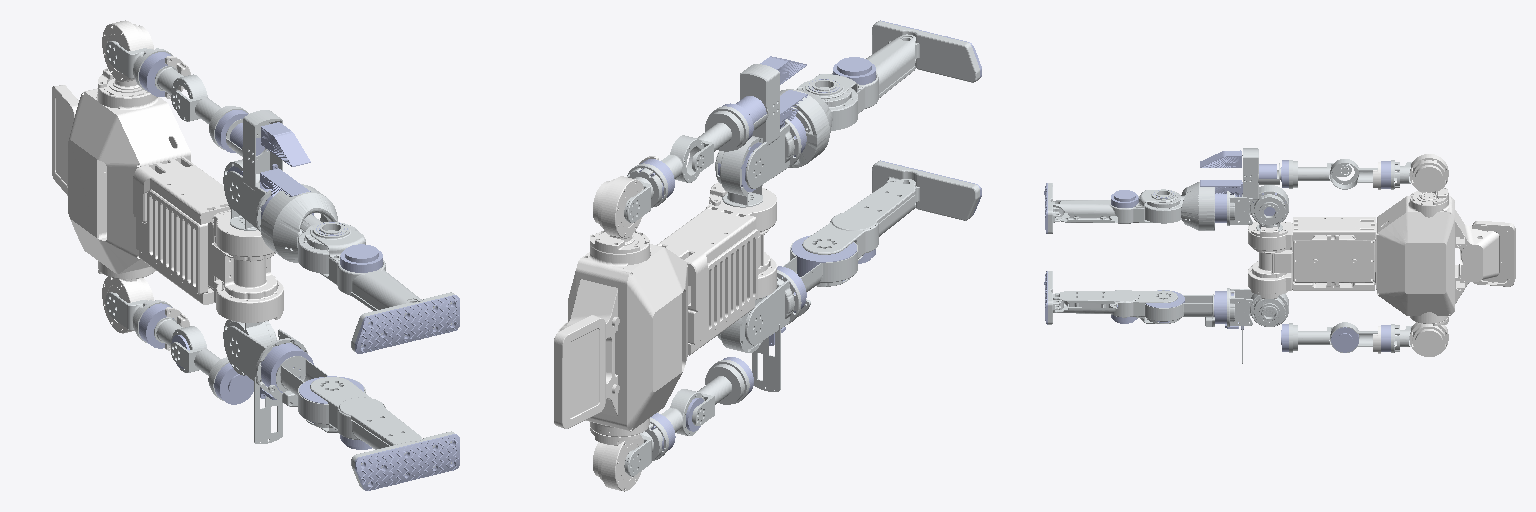
--- What the picture shows (computed from the rendered views, not written in the file) ---
3 views of the same robot in one strip: view 1: azimuth 30°, elevation 25°; view 2: azimuth 150°, elevation 25°; view 3: azimuth 270°, elevation 25° (orthographic).
Robot: gpr-20241204 — 88 links, 87 joints (20 revolute, 67 fixed); root link base; default pose: all joints at 0.
Links seen in each view (by area): view 1: front_shell, body1-part_12, leg2_shell, body1-part_20, body1-part_23, body1-part, foot2, foot4, leg3_shell1, leg3_shell11, hand_shell, leg3_shell33 (+25 smaller); view 2: front_shell, body1-part_20, body1-part_23, foot3, foot1, leg2_shell, body1-part_15, body1-part, body1-part_4, body1-part_10, leg1_shell3, leg3_shell11 (+24 smaller); view 3: back_shell, body1-part_19, leg2_shell, body1-part_12, body1-part_23, leg3_shell11, body1-part_11, body1-part_4, leg3_shell1, leg2_shell_2, body1-part, leg0_shell (+14 smaller).
Boxes of the visible links, bbox=[...] form: front_shell: bbox=[68, 90, 148, 274]; body1-part_12: bbox=[214, 211, 283, 322]; leg2_shell: bbox=[261, 184, 365, 273]; body1-part_20: bbox=[136, 190, 207, 294]; body1-part_23: bbox=[133, 156, 230, 224]; body1-part: bbox=[93, 88, 186, 279]; foot2: bbox=[355, 295, 459, 353]; foot4: bbox=[355, 434, 459, 490]; leg3_shell1: bbox=[320, 257, 421, 309]; leg3_shell11: bbox=[310, 377, 389, 449]; hand_shell: bbox=[226, 110, 282, 190]; leg3_shell33: bbox=[339, 397, 421, 445]; front_shell: bbox=[618, 245, 687, 431]; body1-part_20: bbox=[688, 229, 757, 344]; body1-part_23: bbox=[657, 206, 755, 311]; foot3: bbox=[872, 161, 979, 220]; foot1: bbox=[872, 21, 979, 82]; leg2_shell: bbox=[780, 79, 857, 167]; body1-part_15: bbox=[554, 315, 605, 428]; body1-part: bbox=[580, 231, 654, 436]; body1-part_4: bbox=[565, 279, 617, 416]; body1-part_10: bbox=[569, 329, 598, 418]; leg1_shell3: bbox=[746, 270, 801, 345]; leg3_shell11: bbox=[802, 195, 915, 258]; back_shell: bbox=[1377, 211, 1454, 315]; body1-part_19: bbox=[1293, 235, 1374, 286]; leg2_shell: bbox=[1145, 182, 1214, 230]; body1-part_12: bbox=[1248, 221, 1291, 293]; body1-part_23: bbox=[1293, 217, 1375, 238]; leg3_shell11: bbox=[1053, 290, 1177, 317]; body1-part_11: bbox=[1463, 231, 1498, 281]; body1-part_4: bbox=[1455, 210, 1509, 303]; leg3_shell1: bbox=[1052, 200, 1152, 223]; leg2_shell_2: bbox=[1144, 290, 1213, 323]; body1-part: bbox=[1377, 191, 1454, 323]; leg0_shell: bbox=[1250, 185, 1288, 231].
Size in the robot's own frame: 0.22 by 1.33 by 0.6559 metres.
Meshes: 87 distinct files referenced, 75 mesh visuals loaded (75 binary STL); not drawn: 12 (reference not matched to a file when rendering).

robot.urdf — gpr-20241204:
<?xml version="1.0" ?>
<robot name="gpr-20241204">
  <link name="base">
    <inertial>
      <origin rpy="0 0 0" xyz="0 0 0"/>
      <mass value="0.001"/>
      <inertia ixx="0.000001" ixy="0" ixz="0" iyy="0.000001" iyz="0" izz="0.000001"/>
    </inertial>
  </link>
  <joint name="floating_base" type="fixed">
    <origin rpy="0 0 0" xyz="0 0 0"/>
    <parent link="base"/>
    <child link="body1-part"/>
  </joint>
  <link name="body1-part">
    <visual>
      <origin xyz="0 0 0" rpy="0 0 0"/>
      <geometry>
        <mesh filename="meshes/body1-part.stl"/>
      </geometry>
      <material name="body1-part_material">
        <color rgba="1 1 1 1"/>
      </material>
    </visual>
    <collision>
      <origin xyz="0 0 0" rpy="0 0 0"/>
      <geometry>
        <mesh filename="meshes/body1-part.stl"/>
      </geometry>
    </collision>
    <inertial>
      <mass value="1.2310126"/>
      <inertia ixx="0.027487958" iyy="0.021833906" izz="0.0076034713" ixy="-1.9582105e-05" ixz="0" iyz="0"/>
      <origin xyz="0 0 0" rpy="0 0 0"/>
    </inertial>
  </link>
  <joint name="Fastened_16" type="fixed">
    <origin xyz="-1.0603759e-05 0.018089564 0.14549981" rpy="3.1415927 0 0"/>
    <parent link="body1-part"/>
    <child link="body1-part_2"/>
  </joint>
  <link name="body1-part_2">
    <visual>
      <origin xyz="0 0 0" rpy="0 0 0"/>
      <geometry>
        <mesh filename="meshes/body1-part_2.stl"/>
      </geometry>
      <material name="body1-part_material_2">
        <color rgba="1 1 1 1"/>
      </material>
    </visual>
    <collision>
      <origin xyz="0 0 0" rpy="0 0 0"/>
      <geometry>
        <mesh filename="meshes/body1-part_2.stl"/>
      </geometry>
    </collision>
    <inertial>
      <mass value="0.9"/>
      <inertia ixx="0.00067098171" iyy="0.00067098171" izz="0.00090724844" ixy="0" ixz="0" iyz="0"/>
      <origin xyz="0 0 -0.014732068" rpy="0 0 0"/>
    </inertial>
  </link>
  <joint name="Fastened_17" type="fixed">
    <origin xyz="-1.0603759e-05 0.018089564 -0.14550019" rpy="0 0 0"/>
    <parent link="body1-part"/>
    <child link="body1-part_3"/>
  </joint>
  <link name="body1-part_3">
    <visual>
      <origin xyz="0 0 0" rpy="0 0 0"/>
      <geometry>
        <mesh filename="meshes/body1-part_3.stl"/>
      </geometry>
      <material name="body1-part_material_3">
        <color rgba="1 1 1 1"/>
      </material>
    </visual>
    <collision>
      <origin xyz="0 0 0" rpy="0 0 0"/>
      <geometry>
        <mesh filename="meshes/body1-part_3.stl"/>
      </geometry>
    </collision>
    <inertial>
      <mass value="0.9"/>
      <inertia ixx="0.00067098171" iyy="0.00067098171" izz="0.00090724844" ixy="0" ixz="0" iyz="0"/>
      <origin xyz="0 0 -0.014732068" rpy="0 0 0"/>
    </inertial>
  </link>
  <joint name="Fastened_20" type="fixed">
    <origin xyz="-0.024510604 0.092089564 -0.050000186" rpy="-1.5707963 0 -3.1415927"/>
    <parent link="body1-part"/>
    <child link="body1-part_4"/>
  </joint>
  <link name="body1-part_4">
    <visual>
      <origin xyz="0 0 0" rpy="0 0 0"/>
      <geometry>
        <mesh filename="meshes/body1-part_4.stl"/>
      </geometry>
      <material name="body1-part_material_4">
        <color rgba="1 1 1 1"/>
      </material>
    </visual>
    <collision>
      <origin xyz="0 0 0" rpy="0 0 0"/>
      <geometry>
        <mesh filename="meshes/body1-part_4.stl"/>
      </geometry>
    </collision>
    <inertial>
      <mass value="0.58787898"/>
      <inertia ixx="0.0027603188" iyy="0.00086737302" izz="0.0024433121" ixy="3.4344832e-06" ixz="9.8920117e-05" iyz="4.2665282e-06"/>
      <origin xyz="-0.021019429 -0.048755515 -0.038413655" rpy="0 0 0"/>
    </inertial>
  </link>
  <joint name="Fastened_13" type="fixed">
    <origin xyz="0.039989396 0.07830385 -0.15700019" rpy="-1.5707963 0 1.5707963"/>
    <parent link="body1-part"/>
    <child link="back_shell"/>
  </joint>
  <link name="back_shell">
    <visual>
      <origin xyz="0 0 0" rpy="0 0 0"/>
      <geometry>
        <mesh filename="meshes/back_shell.stl"/>
      </geometry>
      <material name="back_shell_material">
        <color rgba="1 1 1 1"/>
      </material>
    </visual>
    <collision>
      <origin xyz="0 0 0" rpy="0 0 0"/>
      <geometry>
        <mesh filename="meshes/back_shell.stl"/>
      </geometry>
    </collision>
    <inertial>
      <mass value="0.24321991"/>
      <inertia ixx="0.0019310343" iyy="0.0011151632" izz="0.0029796264" ixy="0" ixz="2.6407968e-05" iyz="0"/>
      <origin xyz="-0.087802809 -0.15697885 -0.024458018" rpy="0 0 0"/>
    </inertial>
  </link>
  <joint name="Fastened_15" type="fixed">
    <origin xyz="-0.040010604 0.07830385 -0.15700019" rpy="-1.5707963 0 1.5707963"/>
    <parent link="body1-part"/>
    <child link="front_shell"/>
  </joint>
  <link name="front_shell">
    <visual>
      <origin xyz="0 0 0" rpy="0 0 0"/>
      <geometry>
        <mesh filename="meshes/front_shell.stl"/>
      </geometry>
      <material name="front_shell_material">
        <color rgba="1 1 1 1"/>
      </material>
    </visual>
    <collision>
      <origin xyz="0 0 0" rpy="0 0 0"/>
      <geometry>
        <mesh filename="meshes/front_shell.stl"/>
      </geometry>
    </collision>
    <inertial>
      <mass value="0.44765499"/>
      <inertia ixx="0.0034645893" iyy="0.0019394115" izz="0.0052195962" ixy="3.5715688e-05" ixz="-0.0001249107" iyz="8.2800802e-06"/>
      <origin xyz="-0.12203709 -0.15568345 0.030991974" rpy="0 0 0"/>
    </inertial>
  </link>
  <joint name="Fastened_8" type="fixed">
    <origin xyz="-1.0603691e-05 -0.12991044 0" rpy="1.5707963 0 0"/>
    <parent link="body1-part"/>
    <child link="body1-part_5"/>
  </joint>
  <link name="body1-part_5">
    <visual>
      <origin xyz="0 0 0" rpy="0 0 0"/>
      <geometry>
        <mesh filename="meshes/body1-part_5.stl"/>
      </geometry>
      <material name="body1-part_material_5">
        <color rgba="1 1 1 1"/>
      </material>
    </visual>
    <collision>
      <origin xyz="0 0 0" rpy="0 0 0"/>
      <geometry>
        <mesh filename="meshes/body1-part_5.stl"/>
      </geometry>
    </collision>
    <inertial>
      <mass value="0.68030096"/>
      <inertia ixx="0.0086891579" iyy="0.006933761" izz="0.002608882" ixy="8.7755602e-06" ixz="-0.00015085389" iyz="3.1228871e-05"/>
      <origin xyz="-0.0071262559 0.00039370917 0.13888879" rpy="0 0 0"/>
    </inertial>
  </link>
  <joint name="L_shoulder_y" type="revolute">
    <origin xyz="0 0 -0.042" rpy="0 0 3.1415927"/>
    <parent link="body1-part_2"/>
    <child link="shoulder"/>
    <limit effort="80" velocity="5" lower="0" upper="3.1415927"/>
    <axis xyz="0 0 1"/>
  </joint>
  <link name="shoulder">
    <visual>
      <origin xyz="0 0 0" rpy="0 0 0"/>
      <geometry>
        <mesh filename="meshes/shoulder.stl"/>
      </geometry>
      <material name="shoulder_material">
        <color rgba="1 1 1 1"/>
      </material>
    </visual>
    <collision>
      <origin xyz="0 0 0" rpy="0 0 0"/>
      <geometry>
        <mesh filename="meshes/shoulder.stl"/>
      </geometry>
    </collision>
    <inertial>
      <mass value="0.20769407"/>
      <inertia ixx="0.00056970417" iyy="0.00033193722" izz="0.0002822625" ixy="0" ixz="9.8838615e-06" iyz="0"/>
      <origin xyz="0.0091782099 4.9366749e-05 -0.061966361" rpy="0 0 0"/>
    </inertial>
  </link>
  <joint name="Fastened_19" type="fixed">
    <origin xyz="0 0 -0.0395" rpy="0 0 0"/>
    <parent link="body1-part_2"/>
    <child link="body1-part_6"/>
  </joint>
  <link name="body1-part_6">
    <visual>
      <origin xyz="0 0 0" rpy="0 0 0"/>
      <geometry>
        <mesh filename="meshes/body1-part_6.stl"/>
      </geometry>
      <material name="body1-part_material_6">
        <color rgba="1 1 1 1"/>
      </material>
    </visual>
    <collision>
      <origin xyz="0 0 0" rpy="0 0 0"/>
      <geometry>
        <mesh filename="meshes/body1-part_6.stl"/>
      </geometry>
    </collision>
    <inertial>
      <mass value="0.075924533"/>
      <inertia ixx="9.3806565e-06" iyy="4.1635546e-05" izz="4.730836e-05" ixy="0" ixz="0" iyz="0"/>
      <origin xyz="0 -0.03633484 -0.007761698" rpy="0 0 0"/>
    </inertial>
  </link>
  <joint name="R_shoulder_y" type="revolute">
    <origin xyz="0 0 -0.042" rpy="0 0 3.1415927"/>
    <parent link="body1-part_3"/>
    <child link="shoulder_2"/>
    <limit effort="80" velocity="5" lower="-3.1415927" upper="0"/>
    <axis xyz="0 0 1"/>
  </joint>
  <link name="shoulder_2">
    <visual>
      <origin xyz="0 0 0" rpy="0 0 0"/>
      <geometry>
        <mesh filename="meshes/shoulder_2.stl"/>
      </geometry>
      <material name="shoulder_material_2">
        <color rgba="1 1 1 1"/>
      </material>
    </visual>
    <collision>
      <origin xyz="0 0 0" rpy="0 0 0"/>
      <geometry>
        <mesh filename="meshes/shoulder_2.stl"/>
      </geometry>
    </collision>
    <inertial>
      <mass value="0.20769287"/>
      <inertia ixx="0.00056970219" iyy="0.00033193616" izz="0.0002822618" ixy="0" ixz="9.8835172e-06" iyz="0"/>
      <origin xyz="0.0091782992 -4.9389878e-05 -0.061966523" rpy="0 0 0"/>
    </inertial>
  </link>
  <joint name="Fastened_18" type="fixed">
    <origin xyz="0 0 -0.0395" rpy="0 0 0"/>
    <parent link="body1-part_3"/>
    <child link="body1-part_7"/>
  </joint>
  <link name="body1-part_7">
    <visual>
      <origin xyz="0 0 0" rpy="0 0 0"/>
      <geometry>
        <mesh filename="meshes/body1-part_7.stl"/>
      </geometry>
      <material name="body1-part_material_7">
        <color rgba="1 1 1 1"/>
      </material>
    </visual>
    <collision>
      <origin xyz="0 0 0" rpy="0 0 0"/>
      <geometry>
        <mesh filename="meshes/body1-part_7.stl"/>
      </geometry>
    </collision>
    <inertial>
      <mass value="0.075924533"/>
      <inertia ixx="9.3806565e-06" iyy="4.1635546e-05" izz="4.730836e-05" ixy="0" ixz="0" iyz="0"/>
      <origin xyz="0 0.03633484 -0.007761698" rpy="0 0 0"/>
    </inertial>
  </link>
  <joint name="Fastened_21" type="fixed">
    <origin xyz="0.0067 -0.118 -0.0145" rpy="0 1.5707963 0"/>
    <parent link="body1-part_4"/>
    <child link="body1-part_8"/>
  </joint>
  <link name="body1-part_8">
    <visual>
      <origin xyz="0 0 0" rpy="0 0 0"/>
      <geometry>
        <mesh filename="meshes/body1-part_8.stl"/>
      </geometry>
      <material name="body1-part_material_8">
        <color rgba="1 1 1 1"/>
      </material>
    </visual>
    <collision>
      <origin xyz="0 0 0" rpy="0 0 0"/>
      <geometry>
        <mesh filename="meshes/body1-part_8.stl"/>
      </geometry>
    </collision>
    <inertial>
      <mass value="0.021354804"/>
      <inertia ixx="5.3828011e-06" iyy="5.5225944e-06" izz="1.7291974e-06" ixy="0" ixz="0" iyz="0"/>
      <origin xyz="0.0011613298 0 -0.010996315" rpy="0 0 0"/>
    </inertial>
  </link>
  <joint name="Fastened_22" type="fixed">
    <origin xyz="0.0067 0.018 -0.0145" rpy="0 1.5707963 0"/>
    <parent link="body1-part_4"/>
    <child link="body1-part_9"/>
  </joint>
  <link name="body1-part_9">
    <visual>
      <origin xyz="0 0 0" rpy="0 0 0"/>
      <geometry>
        <mesh filename="meshes/body1-part_9.stl"/>
      </geometry>
      <material name="body1-part_material_9">
        <color rgba="1 1 1 1"/>
      </material>
    </visual>
    <collision>
      <origin xyz="0 0 0" rpy="0 0 0"/>
      <geometry>
        <mesh filename="meshes/body1-part_9.stl"/>
      </geometry>
    </collision>
    <inertial>
      <mass value="0.021354804"/>
      <inertia ixx="5.3828011e-06" iyy="5.5225944e-06" izz="1.7291974e-06" ixy="0" ixz="0" iyz="0"/>
      <origin xyz="0.0011613298 0 -0.010996315" rpy="0 0 0"/>
    </inertial>
  </link>
  <joint name="Fastened_23" type="fixed">
    <origin xyz="-0.011681946 -0.05 -0.15525297" rpy="-1.5707963 0 0"/>
    <parent link="body1-part_4"/>
    <child link="body1-part_10"/>
  </joint>
  <link name="body1-part_10">
    <visual>
      <origin xyz="0 0 0" rpy="0 0 0"/>
      <geometry>
        <mesh filename="meshes/body1-part_10.stl"/>
      </geometry>
      <material name="body1-part_material_10">
        <color rgba="1 1 1 1"/>
      </material>
    </visual>
    <collision>
      <origin xyz="0 0 0" rpy="0 0 0"/>
      <geometry>
        <mesh filename="meshes/body1-part_10.stl"/>
      </geometry>
    </collision>
    <inertial>
      <mass value="0.5"/>
      <inertia ixx="0.0017089304" iyy="0.0013256893" izz="0.00042272078" ixy="7.0946166e-05" ixz="0" iyz="0"/>
      <origin xyz="0.011773072 -0.047884504 -2.5681477e-05" rpy="0 0 0"/>
    </inertial>
  </link>
  <joint name="Fastened_25" type="fixed">
    <origin xyz="-0.0096448259 -0.049375 -0.12181656" rpy="-1.5707963 0 0"/>
    <parent link="body1-part_4"/>
    <child link="body1-part_11"/>
  </joint>
  <link name="body1-part_11">
    <visual>
      <origin xyz="0 0 0" rpy="0 0 0"/>
      <geometry>
        <mesh filename="meshes/body1-part_11.stl"/>
      </geometry>
      <material name="body1-part_material_11">
        <color rgba="1 1 1 1"/>
      </material>
    </visual>
    <collision>
      <origin xyz="0 0 0" rpy="0 0 0"/>
      <geometry>
        <mesh filename="meshes/body1-part_11.stl"/>
      </geometry>
    </collision>
    <inertial>
      <mass value="0.046132725"/>
      <inertia ixx="9.9743643e-05" iyy="8.7192252e-05" izz="4.7406393e-05" ixy="-2.0406618e-05" ixz="0" iyz="0"/>
      <origin xyz="-0.03599809 -0.036437089 -1.3840725e-06" rpy="0 0 0"/>
    </inertial>
  </link>
  <joint name="Fastened_1" type="fixed">
    <origin xyz="0.0375 -0.016 0.2911" rpy="3.1415927 0 3.1415927"/>
    <parent link="body1-part_5"/>
    <child link="body1-part_12"/>
  </joint>
  <link name="body1-part_12">
    <visual>
      <origin xyz="0 0 0" rpy="0 0 0"/>
      <geometry>
        <mesh filename="meshes/body1-part_12.stl"/>
      </geometry>
      <material name="body1-part_material_12">
        <color rgba="1 1 1 1"/>
      </material>
    </visual>
    <collision>
      <origin xyz="0 0 0" rpy="0 0 0"/>
      <geometry>
        <mesh filename="meshes/body1-part_12.stl"/>
      </geometry>
    </collision>
    <inertial>
      <mass value="0.55223125"/>
      <inertia ixx="0.0024507681" iyy="0.0015647521" izz="0.0023032522" ixy="0" ixz="0" iyz="0"/>
      <origin xyz="0.037500005 0.01601865 -0.0017942193" rpy="0 0 0"/>
    </inertial>
  </link>
  <joint name="Fastened_9" type="fixed">
    <origin xyz="-0.035 0 0.23695" rpy="1.5707963 0 3.1415927"/>
    <parent link="body1-part_5"/>
    <child link="body1-part_13"/>
  </joint>
  <link name="body1-part_13">
    <visual>
      <origin xyz="0 0 0" rpy="0 0 0"/>
      <geometry>
        <mesh filename="meshes/body1-part_13.stl"/>
      </geometry>
      <material name="body1-part_material_13">
        <color rgba="1 1 1 1"/>
      </material>
    </visual>
    <collision>
      <origin xyz="0 0 0" rpy="0 0 0"/>
      <geometry>
        <mesh filename="meshes/body1-part_13.stl"/>
      </geometry>
    </collision>
    <inertial>
      <mass value="0.2184791"/>
      <inertia ixx="0.0018812453" iyy="0.00053438067" izz="0.0014172355" ixy="-1.3418689e-05" ixz="3.9835645e-06" iyz="2.5774755e-05"/>
      <origin xyz="-0.0088675135 -0.11940575 0.0012061451" rpy="0 0 0"/>
    </inertial>
  </link>
  <joint name="Fastened_10" type="fixed">
    <origin xyz="0.037 -0.0818 0.072175" rpy="0 0 3.1415927"/>
    <parent link="body1-part_5"/>
    <child link="body1-part_14"/>
  </joint>
  <link name="body1-part_14">
    <visual>
      <origin xyz="0 0 0" rpy="0 0 0"/>
      <geometry>
        <mesh filename="meshes/body1-part_14.stl"/>
      </geometry>
      <material name="body1-part_material_14">
        <color rgba="1 1 1 1"/>
      </material>
    </visual>
    <collision>
      <origin xyz="0 0 0" rpy="0 0 0"/>
      <geometry>
        <mesh filename="meshes/body1-part_14.stl"/>
      </geometry>
    </collision>
    <inertial>
      <mass value="0.15852082"/>
      <inertia ixx="0.0010823348" iyy="0.0012376681" izz="0.00017205715" ixy="1.6832432e-06" ixz="-1.9787509e-05" iyz="-7.1180342e-06"/>
      <origin xyz="0.051773802 0.0021228967 0.041474154" rpy="0 0 0"/>
    </inertial>
  </link>
  <joint name="Fastened_2" type="fixed">
    <origin xyz="0.020011964 5.6278452e-05 -0.0675" rpy="1.5707963 0 1.5707963"/>
    <parent link="shoulder"/>
    <child link="shoulder_3"/>
  </joint>
  <link name="shoulder_3">
    <visual>
      <origin xyz="0 0 0" rpy="0 0 0"/>
      <geometry>
        <mesh filename="meshes/shoulder_3.stl"/>
      </geometry>
      <material name="shoulder_material_3">
        <color rgba="1 1 1 1"/>
      </material>
    </visual>
    <collision>
      <origin xyz="0 0 0" rpy="0 0 0"/>
      <geometry>
        <mesh filename="meshes/shoulder_3.stl"/>
      </geometry>
    </collision>
    <inertial>
      <mass value="0.9"/>
      <inertia ixx="0.00067098171" iyy="0.00067098171" izz="0.00090724844" ixy="0" ixz="0" iyz="0"/>
      <origin xyz="0 0 -0.024767932" rpy="0 0 0"/>
    </inertial>
  </link>
  <joint name="Fastened_1_2" type="fixed">
    <origin xyz="0.020011964 -5.6278452e-05 -0.0675" rpy="-1.5707963 0 -1.5707963"/>
    <parent link="shoulder_2"/>
    <child link="shoulder_4"/>
  </joint>
  <link name="shoulder_4">
    <visual>
      <origin xyz="0 0 0" rpy="0 0 0"/>
      <geometry>
        <mesh filename="meshes/shoulder_4.stl"/>
      </geometry>
      <material name="shoulder_material_4">
        <color rgba="1 1 1 1"/>
      </material>
    </visual>
    <collision>
      <origin xyz="0 0 0" rpy="0 0 0"/>
      <geometry>
        <mesh filename="meshes/shoulder_4.stl"/>
      </geometry>
    </collision>
    <inertial>
      <mass value="0.6"/>
      <inertia ixx="0.00044732114" iyy="0.00044732114" izz="0.00060483229" ixy="0" ixz="0" iyz="0"/>
      <origin xyz="0 0 -0.024767932" rpy="0 0 0"/>
    </inertial>
  </link>
  <joint name="Fastened_24" type="fixed">
    <origin xyz="0.026228088 -0.096917942 0" rpy="0 0 0"/>
    <parent link="body1-part_10"/>
    <child link="body1-part_15"/>
  </joint>
  <link name="body1-part_15">
    <visual>
      <origin xyz="0 0 0" rpy="0 0 0"/>
      <geometry>
        <mesh filename="meshes/body1-part_15.stl"/>
      </geometry>
      <material name="body1-part_material_15">
        <color rgba="1 1 1 1"/>
      </material>
    </visual>
    <collision>
      <origin xyz="0 0 0" rpy="0 0 0"/>
      <geometry>
        <mesh filename="meshes/body1-part_15.stl"/>
      </geometry>
    </collision>
    <inertial>
      <mass value="0.13419396"/>
      <inertia ixx="0.00087709138" iyy="0.00060457618" izz="0.00030456603" ixy="5.4188371e-05" ixz="0" iyz="-1.1920801e-05"/>
      <origin xyz="-0.018934315 0.058616542 -0.0057840589" rpy="0 0 0"/>
    </inertial>
  </link>
  <joint name="Fastened_2_2" type="fixed">
    <origin xyz="0.0375 0.0647 -0.011" rpy="-1.5707963 0 0"/>
    <parent link="body1-part_12"/>
    <child link="body1-part_16"/>
  </joint>
  <link name="body1-part_16">
    <visual>
      <origin xyz="0 0 0" rpy="0 0 0"/>
      <geometry>
        <mesh filename="meshes/body1-part_16.stl"/>
      </geometry>
      <material name="body1-part_material_16">
        <color rgba="1 1 1 1"/>
      </material>
    </visual>
    <collision>
      <origin xyz="0 0 0" rpy="0 0 0"/>
      <geometry>
        <mesh filename="meshes/body1-part_16.stl"/>
      </geometry>
    </collision>
    <inertial>
      <mass value="0.9"/>
      <inertia ixx="0.00092667619" iyy="0.00094476194" izz="0.0015093945" ixy="0" ixz="0" iyz="0"/>
      <origin xyz="0 0 0.015265182" rpy="0 0 0"/>
    </inertial>
  </link>
  <joint name="Fastened_3" type="fixed">
    <origin xyz="0.0375 -0.0332 -0.011" rpy="-1.5707963 0 0"/>
    <parent link="body1-part_12"/>
    <child link="body1-part_17"/>
  </joint>
  <link name="body1-part_17">
    <visual>
      <origin xyz="0 0 0" rpy="0 0 0"/>
      <geometry>
        <mesh filename="meshes/body1-part_17.stl"/>
      </geometry>
      <material name="body1-part_material_17">
        <color rgba="1 1 1 1"/>
      </material>
    </visual>
    <collision>
      <origin xyz="0 0 0" rpy="0 0 0"/>
      <geometry>
        <mesh filename="meshes/body1-part_17.stl"/>
      </geometry>
    </collision>
    <inertial>
      <mass value="0.9"/>
      <inertia ixx="0.00092667619" iyy="0.00094476194" izz="0.0015093945" ixy="0" ixz="0" iyz="0"/>
      <origin xyz="0 0 -0.015265182" rpy="0 0 0"/>
    </inertial>
  </link>
  <joint name="Fastened_6" type="fixed">
    <origin xyz="0.001 -0.10185 0" rpy="-1.5707963 0 -1.5707963"/>
    <parent link="body1-part_13"/>
    <child link="body1-part_18"/>
  </joint>
  <link name="body1-part_18">
    <visual>
      <origin xyz="0 0 0" rpy="0 0 0"/>
      <geometry>
        <mesh filename="meshes/body1-part_18.stl"/>
      </geometry>
      <material name="body1-part_material_18">
        <color rgba="1 1 1 1"/>
      </material>
    </visual>
    <collision>
      <origin xyz="0 0 0" rpy="0 0 0"/>
      <geometry>
        <mesh filename="meshes/body1-part_18.stl"/>
      </geometry>
    </collision>
    <inertial>
      <mass value="2.65"/>
      <inertia ixx="0.0045809667" iyy="0.0076119042" izz="0.010495104" ixy="0" ixz="0" iyz="0"/>
      <origin xyz="0 0 -0.031" rpy="0 0 0"/>
    </inertial>
  </link>
  <joint name="Fastened_7" type="fixed">
    <origin xyz="-0.036 -0.165 -0.0725" rpy="-1.5707963 0 -1.5707963"/>
    <parent link="body1-part_13"/>
    <child link="body1-part_19"/>
  </joint>
  <link name="body1-part_19">
    <visual>
      <origin xyz="0 0 0" rpy="0 0 0"/>
      <geometry>
        <mesh filename="meshes/body1-part_19.stl"/>
      </geometry>
      <material name="body1-part_material_19">
        <color rgba="1 1 1 1"/>
      </material>
    </visual>
    <collision>
      <origin xyz="0 0 0" rpy="0 0 0"/>
      <geometry>
        <mesh filename="meshes/body1-part_19.stl"/>
      </geometry>
    </collision>
    <inertial>
      <mass value="0.19664803"/>
      <inertia ixx="0.00048017886" iyy="0.0011617696" izz="0.0016065057" ixy="-2.1892502e-06" ixz="1.2826178e-06" iyz="0"/>
      <origin xyz="-0.049405081 -0.07235961 -0.021136733" rpy="0 0 0"/>
    </inertial>
  </link>
  <joint name="Fastened_12" type="fixed">
    <origin xyz="0.097 -0.0116 0.048" rpy="-1.5707963 0 0"/>
    <parent link="body1-part_14"/>
    <child link="body1-part_20"/>
  </joint>
  <link name="body1-part_20">
    <visual>
      <origin xyz="0 0 0" rpy="0 0 0"/>
      <geometry>
        <mesh filename="meshes/body1-part_20.stl"/>
      </geometry>
      <material name="body1-part_material_20">
        <color rgba="1 1 1 1"/>
      </material>
    </visual>
    <collision>
      <origin xyz="0 0 0" rpy="0 0 0"/>
      <geometry>
        <mesh filename="meshes/body1-part_20.stl"/>
      </geometry>
    </collision>
    <inertial>
      <mass value="0.17091898"/>
      <inertia ixx="0.00094438358" iyy="0.00032664113" izz="0.00063068543" ixy="-3.8619295e-06" ixz="-1.2972089e-06" iyz="-4.0416185e-05"/>
      <origin xyz="0.0023575598 -0.014181111 -0.068512803" rpy="0 0 0"/>
    </inertial>
  </link>
  <joint name="L_shoulder_x" type="revolute">
    <origin xyz="0 0 0.0025" rpy="0 0 0"/>
    <parent link="shoulder_3"/>
    <child link="arm1_top"/>
    <limit effort="80" velocity="5" lower="-0.47996554" upper="3.6302848"/>
    <axis xyz="0 0 -1"/>
  </joint>
  <link name="arm1_top">
    <visual>
      <origin xyz="0 0 0" rpy="0 0 0"/>
      <geometry>
        <mesh filename="meshes/arm1_top.stl"/>
      </geometry>
      <material name="arm1_top_material">
        <color rgba="0.89803922 0.91764706 0.92941176 1"/>
      </material>
    </visual>
    <collision>
      <origin xyz="0 0 0" rpy="0 0 0"/>
      <geometry>
        <mesh filename="meshes/arm1_top.stl"/>
      </geometry>
    </collision>
    <inertial>
      <mass value="0.17273239"/>
      <inertia ixx="0.00014277081" iyy="0.00032836929" izz="0.00031367502" ixy="0" ixz="-7.7657011e-05" iyz="0"/>
      <origin xyz="-0.052942145 -3.8550161e-06 -0.0088528025" rpy="0 0 0"/>
    </inertial>
  </link>
  <joint name="R_shoulder_x" type="revolute">
    <origin xyz="0 0 0.0025" rpy="3.1415927 0 0"/>
    <parent link="shoulder_4"/>
    <child link="arm1_top_2"/>
    <limit effort="80" velocity="5" lower="-0.47996554" upper="3.6302848"/>
    <axis xyz="0 0 1"/>
  </joint>
  <link name="arm1_top_2">
    <visual>
      <origin xyz="0 0 0" rpy="0 0 0"/>
      <geometry>
        <mesh filename="meshes/arm1_top_2.stl"/>
      </geometry>
      <material name="arm1_top_2_material">
        <color rgba="0.89803922 0.91764706 0.92941176 1"/>
      </material>
    </visual>
    <collision>
      <origin xyz="0 0 0" rpy="0 0 0"/>
      <geometry>
        <mesh filename="meshes/arm1_top_2.stl"/>
      </geometry>
    </collision>
    <inertial>
      <mass value="0.17273186"/>
      <inertia ixx="0.00014276994" iyy="0.00032836833" izz="0.00031367483" ixy="0" ixz="7.7656754e-05" iyz="0"/>
      <origin xyz="-0.052942107 -3.5991896e-06 0.0078526534" rpy="0 0 0"/>
    </inertial>
  </link>
  <joint name="L_hip_y" type="revolute">
    <origin xyz="0 0 0.039" rpy="3.1415927 0 0"/>
    <parent link="body1-part_16"/>
    <child link="leg0_shell"/>
    <limit effort="80" velocity="5" lower="-1.5707963" upper="1.5707963"/>
    <axis xyz="0 0 1"/>
  </joint>
  <link name="leg0_shell">
    <visual>
      <origin xyz="0 0 0" rpy="0 0 0"/>
      <geometry>
        <mesh filename="meshes/leg0_shell.stl"/>
      </geometry>
      <material name="leg0_shell_material">
        <color rgba="0.89803922 0.91764706 0.92941176 1"/>
      </material>
    </visual>
    <collision>
      <origin xyz="0 0 0" rpy="0 0 0"/>
      <geometry>
        <mesh filename="meshes/leg0_shell.stl"/>
      </geometry>
    </collision>
    <inertial>
      <mass value="0.37018127"/>
      <inertia ixx="0.00093621354" iyy="0.00065646916" izz="0.00053778412" ixy="0" ixz="2.8249641e-06" iyz="0"/>
      <origin xyz="-0.0060442347 0 -0.064584622" rpy="0 0 0"/>
    </inertial>
  </link>
  <joint name="Fastened_4" type="fixed">
    <origin xyz="0 0 0.039" rpy="3.1415927 0 0"/>
    <parent link="body1-part_16"/>
    <child link="body1-part_21"/>
  </joint>
  <link name="body1-part_21">
    <visual>
      <origin xyz="0 0 0" rpy="0 0 0"/>
      <geometry>
        <mesh filename="meshes/body1-part_21.stl"/>
      </geometry>
      <material name="body1-part_material_21">
        <color rgba="1 1 1 1"/>
      </material>
    </visual>
    <collision>
      <origin xyz="0 0 0" rpy="0 0 0"/>
      <geometry>
        <mesh filename="meshes/body1-part_21.stl"/>
      </geometry>
    </collision>
    <inertial>
      <mass value="0.067658274"/>
      <inertia ixx="3.3775869e-05" iyy="6.8844667e-06" izz="3.7372327e-05" ixy="0" ixz="0" iyz="0"/>
      <origin xyz="-0.043191859 0 -0.0082396077" rpy="0 0 0"/>
    </inertial>
  </link>
  <joint name="R_hip_y" type="revolute">
    <origin xyz="0 0 -0.039" rpy="0 0 0"/>
    <parent link="body1-part_17"/>
    <child link="leg0_shell_2"/>
    <limit effort="80" velocity="5" lower="-1.5707963" upper="1.5707963"/>
    <axis xyz="0 0 1"/>
  </joint>
  <link name="leg0_shell_2">
    <visual>
      <origin xyz="0 0 0" rpy="0 0 0"/>
      <geometry>
        <mesh filename="meshes/leg0_shell_2.stl"/>
      </geometry>
      <material name="leg0_shell_material_2">
        <color rgba="0.89803922 0.91764706 0.92941176 1"/>
      </material>
    </visual>
    <collision>
      <origin xyz="0 0 0" rpy="0 0 0"/>
      <geometry>
        <mesh filename="meshes/leg0_shell_2.stl"/>
      </geometry>
    </collision>
    <inertial>
      <mass value="0.37018127"/>
      <inertia ixx="0.00093621354" iyy="0.00065646916" izz="0.00053778412" ixy="0" ixz="2.8249641e-06" iyz="0"/>
      <origin xyz="-0.0060442347 0 -0.064584622" rpy="0 0 0"/>
    </inertial>
  </link>
  <joint name="Fastened_5" type="fixed">
    <origin xyz="0 0 -0.039" rpy="0 0 0"/>
    <parent link="body1-part_17"/>
    <child link="body1-part_22"/>
  </joint>
  <link name="body1-part_22">
    <visual>
      <origin xyz="0 0 0" rpy="0 0 0"/>
      <geometry>
        <mesh filename="meshes/body1-part_22.stl"/>
      </geometry>
      <material name="body1-part_material_22">
        <color rgba="1 1 1 1"/>
      </material>
    </visual>
    <collision>
      <origin xyz="0 0 0" rpy="0 0 0"/>
      <geometry>
        <mesh filename="meshes/body1-part_22.stl"/>
      </geometry>
    </collision>
    <inertial>
      <mass value="0.067658274"/>
      <inertia ixx="3.3775869e-05" iyy="6.8844667e-06" izz="3.7372327e-05" ixy="0" ixz="0" iyz="0"/>
      <origin xyz="-0.043191859 0 -0.0082396077" rpy="0 0 0"/>
    </inertial>
  </link>
  <joint name="Fastened_11" type="fixed">
    <origin xyz="-1.307028e-05 0.098256596 -0.06658996" rpy="0 0 0"/>
    <parent link="body1-part_20"/>
    <child link="body1-part_23"/>
  </joint>
  <link name="body1-part_23">
    <visual>
      <origin xyz="0 0 0" rpy="0 0 0"/>
      <geometry>
        <mesh filename="meshes/body1-part_23.stl"/>
      </geometry>
      <material name="body1-part_material_23">
        <color rgba="1 1 1 1"/>
      </material>
    </visual>
    <collision>
      <origin xyz="0 0 0" rpy="0 0 0"/>
      <geometry>
        <mesh filename="meshes/body1-part_23.stl"/>
      </geometry>
    </collision>
    <inertial>
      <mass value="0.17646959"/>
      <inertia ixx="0.0012593369" iyy="0.00026382552" izz="0.0014086182" ixy="-5.5379892e-05" ixz="-3.7301337e-05" iyz="-7.234386e-05"/>
      <origin xyz="-0.036013026 -0.081120728 -0.084248178" rpy="0 0 0"/>
    </inertial>
  </link>
  <joint name="Fastened_2_3" type="fixed">
    <origin xyz="-0.108 0 -0.0235" rpy="3.1415927 -1.5707963 0"/>
    <parent link="arm1_top"/>
    <child link="arm-actuator"/>
  </joint>
  <link name="arm-actuator">
    <visual>
      <origin xyz="0 0 0" rpy="0 0 0"/>
      <geometry>
        <mesh filename="meshes/arm-actuator.stl"/>
      </geometry>
      <material name="arm-actuator_material">
        <color rgba="0.79215686 0.81960784 0.93333333 1"/>
      </material>
    </visual>
    <collision>
      <origin xyz="0 0 0" rpy="0 0 0"/>
      <geometry>
        <mesh filename="meshes/arm-actuator.stl"/>
      </geometry>
    </collision>
    <inertial>
      <mass value="0.4"/>
      <inertia ixx="0.00018548163" iyy="0.00018548163" izz="0.00028416296" ixy="0" ixz="0" iyz="0"/>
      <origin xyz="0 0 -0.011585135" rpy="0 0 0"/>
    </inertial>
  </link>
  <joint name="Fastened_1_3" type="fixed">
    <origin xyz="-0.108 0 0.0225" rpy="0 1.5707963 0"/>
    <parent link="arm1_top_2"/>
    <child link="arm-actuator_2"/>
  </joint>
  <link name="arm-actuator_2">
    <visual>
      <origin xyz="0 0 0" rpy="0 0 0"/>
      <geometry>
        <mesh filename="meshes/arm-actuator_2.stl"/>
      </geometry>
      <material name="arm-actuator_material_2">
        <color rgba="0.79215686 0.81960784 0.93333333 1"/>
      </material>
    </visual>
    <collision>
      <origin xyz="0 0 0" rpy="0 0 0"/>
      <geometry>
        <mesh filename="meshes/arm-actuator_2.stl"/>
      </geometry>
    </collision>
    <inertial>
      <mass value="0.4"/>
      <inertia ixx="0.00018548163" iyy="0.00018548163" izz="0.00028416296" ixy="0" ixz="0" iyz="0"/>
      <origin xyz="0 0 -0.011585135" rpy="0 0 0"/>
    </inertial>
  </link>
  <joint name="Fastened_1_4" type="fixed">
    <origin xyz="-0.0301 0 -0.0695" rpy="-1.5707963 0 1.5707963"/>
    <parent link="leg0_shell"/>
    <child link="leg0_actuator"/>
  </joint>
  <link name="leg0_actuator">
    <visual>
      <origin xyz="0 0 0" rpy="0 0 0"/>
      <geometry>
        <mesh filename="meshes/leg0_actuator.stl"/>
      </geometry>
      <material name="leg0_actuator_material">
        <color rgba="0.79215686 0.81960784 0.93333333 1"/>
      </material>
    </visual>
    <collision>
      <origin xyz="0 0 0" rpy="0 0 0"/>
      <geometry>
        <mesh filename="meshes/leg0_actuator.stl"/>
      </geometry>
    </collision>
    <inertial>
      <mass value="0.9"/>
      <inertia ixx="0.00067098171" iyy="0.00067098171" izz="0.00090724844" ixy="0" ixz="0" iyz="0"/>
      <origin xyz="0 0 -0.029332068" rpy="0 0 0"/>
    </inertial>
  </link>
  <joint name="Fastened_2_4" type="fixed">
    <origin xyz="-0.0346 0 -0.0695" rpy="1.5707963 0 1.5707963"/>
    <parent link="leg0_shell"/>
    <child link="leg0_bearing"/>
  </joint>
  <link name="leg0_bearing">
    <visual>
      <origin xyz="0 0 0" rpy="0 0 0"/>
      <geometry>
        <mesh filename="meshes/leg0_bearing.stl"/>
      </geometry>
      <material name="leg0_bearing_material">
        <color rgba="0.89803922 0.91764706 0.92941176 1"/>
      </material>
    </visual>
    <collision>
      <origin xyz="0 0 0" rpy="0 0 0"/>
      <geometry>
        <mesh filename="meshes/leg0_bearing.stl"/>
      </geometry>
    </collision>
    <inertial>
      <mass value="0.053266787"/>
      <inertia ixx="1.8136502e-05" iyy="1.8136502e-05" izz="3.5913995e-05" ixy="0" ixz="0" iyz="0"/>
      <origin xyz="0 0 -0.0035" rpy="0 0 0"/>
    </inertial>
  </link>
  <joint name="Fastened_1_5" type="fixed">
    <origin xyz="-0.0301 0 -0.0695" rpy="-1.5707963 0 1.5707963"/>
    <parent link="leg0_shell_2"/>
    <child link="leg0_actuator_2"/>
  </joint>
  <link name="leg0_actuator_2">
    <visual>
      <origin xyz="0 0 0" rpy="0 0 0"/>
      <geometry>
        <mesh filename="meshes/leg0_actuator_2.stl"/>
      </geometry>
      <material name="leg0_actuator_material_2">
        <color rgba="0.79215686 0.81960784 0.93333333 1"/>
      </material>
    </visual>
    <collision>
      <origin xyz="0 0 0" rpy="0 0 0"/>
      <geometry>
        <mesh filename="meshes/leg0_actuator_2.stl"/>
      </geometry>
    </collision>
    <inertial>
      <mass value="0.9"/>
      <inertia ixx="0.00067098171" iyy="0.00067098171" izz="0.00090724844" ixy="0" ixz="0" iyz="0"/>
      <origin xyz="0 0 -0.029332068" rpy="0 0 0"/>
    </inertial>
  </link>
  <joint name="Fastened_2_5" type="fixed">
    <origin xyz="-0.0346 0 -0.0695" rpy="1.5707963 0 1.5707963"/>
    <parent link="leg0_shell_2"/>
    <child link="leg0_bearing_2"/>
  </joint>
  <link name="leg0_bearing_2">
    <visual>
      <origin xyz="0 0 0" rpy="0 0 0"/>
      <geometry>
        <mesh filename="meshes/leg0_bearing_2.stl"/>
      </geometry>
      <material name="leg0_bearing_material_2">
        <color rgba="0.89803922 0.91764706 0.92941176 1"/>
      </material>
    </visual>
    <collision>
      <origin xyz="0 0 0" rpy="0 0 0"/>
      <geometry>
        <mesh filename="meshes/leg0_bearing_2.stl"/>
      </geometry>
    </collision>
    <inertial>
      <mass value="0.053266787"/>
      <inertia ixx="1.8136502e-05" iyy="1.8136502e-05" izz="3.5913995e-05" ixy="0" ixz="0" iyz="0"/>
      <origin xyz="0 0 -0.0035" rpy="0 0 0"/>
    </inertial>
  </link>
  <joint name="L_shoulder_z" type="revolute">
    <origin xyz="0 0 -0.0315" rpy="0 0 3.1415927"/>
    <parent link="arm-actuator"/>
    <child link="arm2_shell"/>
    <limit effort="80" velocity="5" lower="-1.5707963" upper="1.5707963"/>
    <axis xyz="0 0 1"/>
  </joint>
  <link name="arm2_shell">
    <visual>
      <origin xyz="0 0 0" rpy="0 0 0"/>
      <geometry>
        <mesh filename="meshes/arm2_shell.stl"/>
      </geometry>
      <material name="arm2_shell_material">
        <color rgba="0.89803922 0.91764706 0.92941176 1"/>
      </material>
    </visual>
    <collision>
      <origin xyz="0 0 0" rpy="0 0 0"/>
      <geometry>
        <mesh filename="meshes/arm2_shell.stl"/>
      </geometry>
    </collision>
    <inertial>
      <mass value="0.11101595"/>
      <inertia ixx="0.00028832644" iyy="0.00024383067" izz="6.9077239e-05" ixy="0" ixz="-1.1929973e-05" iyz="0"/>
      <origin xyz="-0.0078489314 0 -0.063113556" rpy="0 0 0"/>
    </inertial>
  </link>
  <joint name="Fastened_4_2" type="fixed">
    <origin xyz="0 0 -0.028" rpy="0 0 -1.5707963"/>
    <parent link="arm-actuator"/>
    <child link="arm-stopper-2.stp"/>
  </joint>
  <link name="arm-stopper-2.stp">
    <visual>
      <origin xyz="0 0 0" rpy="0 0 0"/>
      <geometry>
        <mesh filename="meshes/arm-stopper-2.stp.stl"/>
      </geometry>
      <material name="arm-stopper-2.stp_material">
        <color rgba="1 1 1 1"/>
      </material>
    </visual>
    <collision>
      <origin xyz="0 0 0" rpy="0 0 0"/>
      <geometry>
        <mesh filename="meshes/arm-stopper-2.stp.stl"/>
      </geometry>
    </collision>
    <inertial>
      <mass value="0.075787127"/>
      <inertia ixx="1.0655287e-05" iyy="3.2804007e-05" izz="3.6401092e-05" ixy="0" ixz="0" iyz="-1.7387804e-06"/>
      <origin xyz="-1.0245005e-05 -0.026557758 -0.0099571266" rpy="0 0 0"/>
    </inertial>
  </link>
  <joint name="R_shoulder_z" type="revolute">
    <origin xyz="0 0 -0.0315" rpy="3.1415927 0 0"/>
    <parent link="arm-actuator_2"/>
    <child link="arm2_shell_2"/>
    <limit effort="80" velocity="5" lower="-1.5707963" upper="1.5707963"/>
    <axis xyz="0 0 -1"/>
  </joint>
  <link name="arm2_shell_2">
    <visual>
      <origin xyz="0 0 0" rpy="0 0 0"/>
      <geometry>
        <mesh filename="meshes/arm2_shell_2.stl"/>
      </geometry>
      <material name="arm2_shell_material_2">
        <color rgba="0.89803922 0.91764706 0.92941176 1"/>
      </material>
    </visual>
    <collision>
      <origin xyz="0 0 0" rpy="0 0 0"/>
      <geometry>
        <mesh filename="meshes/arm2_shell_2.stl"/>
      </geometry>
    </collision>
    <inertial>
      <mass value="0.11101595"/>
      <inertia ixx="0.00028832644" iyy="0.00024383067" izz="6.9077239e-05" ixy="0" ixz="-1.1929973e-05" iyz="0"/>
      <origin xyz="0.0078489314 0 0.062613556" rpy="0 0 0"/>
    </inertial>
  </link>
  <joint name="Fastened_3_2" type="fixed">
    <origin xyz="0 0 -0.028" rpy="0 0 1.5707963"/>
    <parent link="arm-actuator_2"/>
    <child link="arm-stopper-2.stp_2"/>
  </joint>
  <link name="arm-stopper-2.stp_2">
    <visual>
      <origin xyz="0 0 0" rpy="0 0 0"/>
      <geometry>
        <mesh filename="meshes/arm-stopper-2.stp_2.stl"/>
      </geometry>
      <material name="arm-stopper-2.stp_material_2">
        <color rgba="1 1 1 1"/>
      </material>
    </visual>
    <collision>
      <origin xyz="0 0 0" rpy="0 0 0"/>
      <geometry>
        <mesh filename="meshes/arm-stopper-2.stp_2.stl"/>
      </geometry>
    </collision>
    <inertial>
      <mass value="0.075787053"/>
      <inertia ixx="1.0655278e-05" iyy="3.2803975e-05" izz="3.6401066e-05" ixy="0" ixz="0" iyz="1.7387821e-06"/>
      <origin xyz="-1.0262515e-05 0.02655776 -0.0099571176" rpy="0 0 0"/>
    </inertial>
  </link>
  <joint name="L_hip_x" type="revolute">
    <origin xyz="0 0 -0.0566" rpy="0 0 0"/>
    <parent link="leg0_actuator"/>
    <child link="leg1_shell"/>
    <limit effort="80" velocity="5" lower="-0.34906585" upper="3.1852259"/>
    <axis xyz="0 0 1"/>
  </joint>
  <link name="leg1_shell">
    <visual>
      <origin xyz="0 0 0" rpy="0 0 0"/>
      <geometry>
        <mesh filename="meshes/leg1_shell.stl"/>
      </geometry>
      <material name="leg1_shell_material">
        <color rgba="0.89803922 0.91764706 0.92941176 1"/>
      </material>
    </visual>
    <collision>
      <origin xyz="0 0 0" rpy="0 0 0"/>
      <geometry>
        <mesh filename="meshes/leg1_shell.stl"/>
      </geometry>
    </collision>
    <inertial>
      <mass value="0.36469032"/>
      <inertia ixx="0.00055741198" iyy="0.00092905072" izz="0.00087158449" ixy="3.3611355e-06" ixz="0.00017329532" iyz="-4.6991851e-06"/>
      <origin xyz="-0.071185176 0.0015379046 0.019705458" rpy="0 0 0"/>
    </inertial>
  </link>
  <joint name="R_hip_x" type="revolute">
    <origin xyz="0 0 -0.0566" rpy="0 0 3.1415927"/>
    <parent link="leg0_actuator_2"/>
    <child link="leg1_shell3"/>
    <limit effort="80" velocity="5" lower="-0.34906585" upper="3.1852259"/>
    <axis xyz="0 0 1"/>
  </joint>
  <link name="leg1_shell3">
    <visual>
      <origin xyz="0 0 0" rpy="0 0 0"/>
      <geometry>
        <mesh filename="meshes/leg1_shell3.stl"/>
      </geometry>
      <material name="leg1_shell3_material">
        <color rgba="0.89803922 0.91764706 0.92941176 1"/>
      </material>
    </visual>
    <collision>
      <origin xyz="0 0 0" rpy="0 0 0"/>
      <geometry>
        <mesh filename="meshes/leg1_shell3.stl"/>
      </geometry>
    </collision>
    <inertial>
      <mass value="0.36469012"/>
      <inertia ixx="0.00055741161" iyy="0.00092905049" izz="0.00087158419" ixy="-3.3613028e-06" ixz="0.00017329523" iyz="4.699312e-06"/>
      <origin xyz="-0.071185167 -0.00153793 0.019705437" rpy="0 0 0"/>
    </inertial>
  </link>
  <joint name="Fastened_1_6" type="fixed">
    <origin xyz="-0.0175 0 -0.098" rpy="0 -1.5707963 0"/>
    <parent link="arm2_shell"/>
    <child link="arm2_actuator"/>
  </joint>
  <link name="arm2_actuator">
    <visual>
      <origin xyz="0 0 0" rpy="0 0 0"/>
      <geometry>
        <mesh filename="meshes/arm2_actuator.stl"/>
      </geometry>
      <material name="arm2_actuator_material">
        <color rgba="0.79215686 0.81960784 0.93333333 1"/>
      </material>
    </visual>
    <collision>
      <origin xyz="0 0 0" rpy="0 0 0"/>
      <geometry>
        <mesh filename="meshes/arm2_actuator.stl"/>
      </geometry>
    </collision>
    <inertial>
      <mass value="0.4"/>
      <inertia ixx="0.00018548163" iyy="0.00018548163" izz="0.00028416296" ixy="0" ixz="0" iyz="0"/>
      <origin xyz="0 0 -0.011585135" rpy="0 0 0"/>
    </inertial>
  </link>
  <joint name="Fastened_1_7" type="fixed">
    <origin xyz="0.0175 0 0.0975" rpy="0 1.5707963 0"/>
    <parent link="arm2_shell_2"/>
    <child link="arm2_actuator_2"/>
  </joint>
  <link name="arm2_actuator_2">
    <visual>
      <origin xyz="0 0 0" rpy="0 0 0"/>
      <geometry>
        <mesh filename="meshes/arm2_actuator_2.stl"/>
      </geometry>
      <material name="arm2_actuator_material_2">
        <color rgba="0.79215686 0.81960784 0.93333333 1"/>
      </material>
    </visual>
    <collision>
      <origin xyz="0 0 0" rpy="0 0 0"/>
      <geometry>
        <mesh filename="meshes/arm2_actuator_2.stl"/>
      </geometry>
    </collision>
    <inertial>
      <mass value="0.4"/>
      <inertia ixx="0.00018548163" iyy="0.00018548163" izz="0.00028416296" ixy="0" ixz="0" iyz="0"/>
      <origin xyz="0 0 -0.011585135" rpy="0 0 0"/>
    </inertial>
  </link>
  <joint name="Fastened_2_6" type="fixed">
    <origin xyz="-0.0999 0.00011981393 0.0275" rpy="0 1.5707963 0"/>
    <parent link="leg1_shell"/>
    <child link="leg1_actuator"/>
  </joint>
  <link name="leg1_actuator">
    <visual>
      <origin xyz="0 0 0" rpy="0 0 0"/>
      <geometry>
        <mesh filename="meshes/leg1_actuator.stl"/>
      </geometry>
      <material name="leg1_actuator_material">
        <color rgba="0.79215686 0.81960784 0.93333333 1"/>
      </material>
    </visual>
    <collision>
      <origin xyz="0 0 0" rpy="0 0 0"/>
      <geometry>
        <mesh filename="meshes/leg1_actuator.stl"/>
      </geometry>
    </collision>
    <inertial>
      <mass value="0.9"/>
      <inertia ixx="0.00067098171" iyy="0.00067098171" izz="0.00090724844" ixy="0" ixz="0" iyz="0"/>
      <origin xyz="0 0 -0.029332068" rpy="0 0 0"/>
    </inertial>
  </link>
  <joint name="Fastened_1_8" type="fixed">
    <origin xyz="-0.0999 -0.00011981393 0.0275" rpy="0 1.5707963 0"/>
    <parent link="leg1_shell3"/>
    <child link="leg1_actuator2"/>
  </joint>
  <link name="leg1_actuator2">
    <visual>
      <origin xyz="0 0 0" rpy="0 0 0"/>
      <geometry>
        <mesh filename="meshes/leg1_actuator2.stl"/>
      </geometry>
      <material name="leg1_actuator2_material">
        <color rgba="0.79215686 0.81960784 0.93333333 1"/>
      </material>
    </visual>
    <collision>
      <origin xyz="0 0 0" rpy="0 0 0"/>
      <geometry>
        <mesh filename="meshes/leg1_actuator2.stl"/>
      </geometry>
    </collision>
    <inertial>
      <mass value="0.9"/>
      <inertia ixx="0.00067098171" iyy="0.00067098171" izz="0.00090724844" ixy="0" ixz="0" iyz="0"/>
      <origin xyz="0 0 -0.029332068" rpy="0 0 0"/>
    </inertial>
  </link>
  <joint name="L_elbow" type="revolute">
    <origin xyz="0 0 0.0085" rpy="3.1415927 0 0"/>
    <parent link="arm2_actuator"/>
    <child link="arm3_shell"/>
    <limit effort="80" velocity="5" lower="0" upper="2.7925268"/>
    <axis xyz="0 0 1"/>
  </joint>
  <link name="arm3_shell">
    <visual>
      <origin xyz="0 0 0" rpy="0 0 0"/>
      <geometry>
        <mesh filename="meshes/arm3_shell.stl"/>
      </geometry>
      <material name="arm3_shell_material">
        <color rgba="0.89803922 0.91764706 0.92941176 1"/>
      </material>
    </visual>
    <collision>
      <origin xyz="0 0 0" rpy="0 0 0"/>
      <geometry>
        <mesh filename="meshes/arm3_shell.stl"/>
      </geometry>
    </collision>
    <inertial>
      <mass value="0.17887479"/>
      <inertia ixx="0.00013849882" iyy="0.00057142188" izz="0.00055471999" ixy="0" ixz="8.7336557e-05" iyz="0"/>
      <origin xyz="-0.092011992 0 0.014776736" rpy="0 0 0"/>
    </inertial>
  </link>
  <joint name="R_elbow" type="revolute">
    <origin xyz="0 0 0.0085" rpy="3.1415927 0 0"/>
    <parent link="arm2_actuator_2"/>
    <child link="arm3_shell2"/>
    <limit effort="80" velocity="5" lower="0" upper="2.7925268"/>
    <axis xyz="0 0 1"/>
  </joint>
  <link name="arm3_shell2">
    <visual>
      <origin xyz="0 0 0" rpy="0 0 0"/>
      <geometry>
        <mesh filename="meshes/arm3_shell2.stl"/>
      </geometry>
      <material name="arm3_shell2_material">
        <color rgba="0.89803922 0.91764706 0.92941176 1"/>
      </material>
    </visual>
    <collision>
      <origin xyz="0 0 0" rpy="0 0 0"/>
      <geometry>
        <mesh filename="meshes/arm3_shell2.stl"/>
      </geometry>
    </collision>
    <inertial>
      <mass value="0.17887479"/>
      <inertia ixx="0.00013849882" iyy="0.00057142188" izz="0.00055471999" ixy="0" ixz="8.7336557e-05" iyz="0"/>
      <origin xyz="-0.092011992 0 0.014776736" rpy="0 0 0"/>
    </inertial>
  </link>
  <joint name="L_hip_z" type="revolute">
    <origin xyz="0 0 -0.0566" rpy="0 0 0"/>
    <parent link="leg1_actuator"/>
    <child link="leg2_shell"/>
    <limit effort="80" velocity="5" lower="-1.5707963" upper="1.5707963"/>
    <axis xyz="0 0 1"/>
  </joint>
  <link name="leg2_shell">
    <visual>
      <origin xyz="0 0 0" rpy="0 0 0"/>
      <geometry>
        <mesh filename="meshes/leg2_shell.stl"/>
      </geometry>
      <material name="leg2_shell_material">
        <color rgba="0.89803922 0.91764706 0.92941176 1"/>
      </material>
    </visual>
    <collision>
      <origin xyz="0 0 0" rpy="0 0 0"/>
      <geometry>
        <mesh filename="meshes/leg2_shell.stl"/>
      </geometry>
    </collision>
    <inertial>
      <mass value="0.26765588"/>
      <inertia ixx="0.0011769735" iyy="0.0013888869" izz="0.00037795879" ixy="0" ixz="0" iyz="5.1336711e-05"/>
      <origin xyz="2.7794893e-06 0.0095055079 -0.10717619" rpy="0 0 0"/>
    </inertial>
  </link>
  <joint name="Fastened_4_3" type="fixed">
    <origin xyz="0 0 -0.0566" rpy="0 0 0"/>
    <parent link="leg1_actuator"/>
    <child link="leg-stopper-2"/>
  </joint>
  <link name="leg-stopper-2">
    <visual>
      <origin xyz="0 0 0" rpy="0 0 0"/>
      <geometry>
        <mesh filename="meshes/leg-stopper-2.stl"/>
      </geometry>
      <material name="leg-stopper-2_material">
        <color rgba="0.89803922 0.91764706 0.92941176 1"/>
      </material>
    </visual>
    <collision>
      <origin xyz="0 0 0" rpy="0 0 0"/>
      <geometry>
        <mesh filename="meshes/leg-stopper-2.stl"/>
      </geometry>
    </collision>
    <inertial>
      <mass value="0.096079192"/>
      <inertia ixx="1.4062902e-05" iyy="4.7759563e-05" izz="4.9482027e-05" ixy="0" ixz="0" iyz="1.28153e-06"/>
      <origin xyz="0 0.038683478 -0.012327581" rpy="0 0 0"/>
    </inertial>
  </link>
  <joint name="R_hip_z" type="revolute">
    <origin xyz="0 0 -0.0566" rpy="0 0 3.1415927"/>
    <parent link="leg1_actuator2"/>
    <child link="leg2_shell_2"/>
    <limit effort="80" velocity="5" lower="-1.5707963" upper="1.5707963"/>
    <axis xyz="0 0 1"/>
  </joint>
  <link name="leg2_shell_2">
    <visual>
      <origin xyz="0 0 0" rpy="0 0 0"/>
      <geometry>
        <mesh filename="meshes/leg2_shell_2.stl"/>
      </geometry>
      <material name="leg2_shell_material_2">
        <color rgba="0.89803922 0.91764706 0.92941176 1"/>
      </material>
    </visual>
    <collision>
      <origin xyz="0 0 0" rpy="0 0 0"/>
      <geometry>
        <mesh filename="meshes/leg2_shell_2.stl"/>
      </geometry>
    </collision>
    <inertial>
      <mass value="0.26765588"/>
      <inertia ixx="0.0011769735" iyy="0.0013888869" izz="0.00037795879" ixy="0" ixz="0" iyz="5.1336711e-05"/>
      <origin xyz="2.7794893e-06 0.0095055079 -0.10717619" rpy="0 0 0"/>
    </inertial>
  </link>
  <joint name="Fastened_3_3" type="fixed">
    <origin xyz="0 0 -0.0541" rpy="0 0 0"/>
    <parent link="leg1_actuator2"/>
    <child link="leg-stopper-2_2"/>
  </joint>
  <link name="leg-stopper-2_2">
    <visual>
      <origin xyz="0 0 0" rpy="0 0 0"/>
      <geometry>
        <mesh filename="meshes/leg-stopper-2_2.stl"/>
      </geometry>
      <material name="leg-stopper-2_material_2">
        <color rgba="0.89803922 0.91764706 0.92941176 1"/>
      </material>
    </visual>
    <collision>
      <origin xyz="0 0 0" rpy="0 0 0"/>
      <geometry>
        <mesh filename="meshes/leg-stopper-2_2.stl"/>
      </geometry>
    </collision>
    <inertial>
      <mass value="0.096079242"/>
      <inertia ixx="1.4062903e-05" iyy="4.7759576e-05" izz="4.9482041e-05" ixy="0" ixz="0" iyz="-1.2815294e-06"/>
      <origin xyz="0 -0.03868348 -0.012327578" rpy="0 0 0"/>
    </inertial>
  </link>
  <joint name="Fastened_2_7" type="fixed">
    <origin xyz="-0.15 0 0.0215" rpy="3.1415927 -1.5707963 0"/>
    <parent link="arm3_shell"/>
    <child link="arm3_actuator"/>
  </joint>
  <link name="arm3_actuator">
    <visual>
      <origin xyz="0 0 0" rpy="0 0 0"/>
      <geometry>
        <mesh filename="meshes/arm3_actuator.stl"/>
      </geometry>
      <material name="arm3_actuator_material">
        <color rgba="0.79215686 0.81960784 0.93333333 1"/>
      </material>
    </visual>
    <collision>
      <origin xyz="0 0 0" rpy="0 0 0"/>
      <geometry>
        <mesh filename="meshes/arm3_actuator.stl"/>
      </geometry>
    </collision>
    <inertial>
      <mass value="0.4"/>
      <inertia ixx="0.00018548163" iyy="0.00018548163" izz="0.00028416296" ixy="0" ixz="0" iyz="0"/>
      <origin xyz="0 0 -0.011585135" rpy="0 0 0"/>
    </inertial>
  </link>
  <joint name="Fastened_1_9" type="fixed">
    <origin xyz="-0.15 0 0.0215" rpy="3.1415927 -1.5707963 0"/>
    <parent link="arm3_shell2"/>
    <child link="arm3_actuator2"/>
  </joint>
  <link name="arm3_actuator2">
    <visual>
      <origin xyz="0 0 0" rpy="0 0 0"/>
      <geometry>
        <mesh filename="meshes/arm3_actuator2.stl"/>
      </geometry>
      <material name="arm3_actuator2_material">
        <color rgba="0.79215686 0.81960784 0.93333333 1"/>
      </material>
    </visual>
    <collision>
      <origin xyz="0 0 0" rpy="0 0 0"/>
      <geometry>
        <mesh filename="meshes/arm3_actuator2.stl"/>
      </geometry>
    </collision>
    <inertial>
      <mass value="0.4"/>
      <inertia ixx="0.00018548163" iyy="0.00018548163" izz="0.00028416296" ixy="0" ixz="0" iyz="0"/>
      <origin xyz="0 0 -0.011585135" rpy="0 0 0"/>
    </inertial>
  </link>
  <joint name="Fastened_1_10" type="fixed">
    <origin xyz="0 0.013 -0.1425" rpy="-1.5707963 0 0"/>
    <parent link="leg2_shell"/>
    <child link="leg2_actuator"/>
  </joint>
  <link name="leg2_actuator">
    <visual>
      <origin xyz="0 0 0" rpy="0 0 0"/>
      <geometry>
        <mesh filename="meshes/leg2_actuator.stl"/>
      </geometry>
      <material name="leg2_actuator_material">
        <color rgba="0.79215686 0.81960784 0.93333333 1"/>
      </material>
    </visual>
    <collision>
      <origin xyz="0 0 0" rpy="0 0 0"/>
      <geometry>
        <mesh filename="meshes/leg2_actuator.stl"/>
      </geometry>
    </collision>
    <inertial>
      <mass value="1.5"/>
      <inertia ixx="0.0015444603" iyy="0.0015746032" izz="0.0025156575" ixy="0" ixz="0" iyz="0"/>
      <origin xyz="0 0 -0.015265182" rpy="0 0 0"/>
    </inertial>
  </link>
  <joint name="Fastened_2_8" type="fixed">
    <origin xyz="0 0.0307 -0.1425" rpy="1.5707963 0 0"/>
    <parent link="leg2_shell"/>
    <child link="leg2_bearing"/>
  </joint>
  <link name="leg2_bearing">
    <visual>
      <origin xyz="0 0 0" rpy="0 0 0"/>
      <geometry>
        <mesh filename="meshes/leg2_bearing.stl"/>
      </geometry>
      <material name="leg2_bearing_material">
        <color rgba="0.79215686 0.81960784 0.93333333 1"/>
      </material>
    </visual>
    <collision>
      <origin xyz="0 0 0" rpy="0 0 0"/>
      <geometry>
        <mesh filename="meshes/leg2_bearing.stl"/>
      </geometry>
    </collision>
    <inertial>
      <mass value="0.053266787"/>
      <inertia ixx="1.8136502e-05" iyy="1.8136502e-05" izz="3.5913995e-05" ixy="0" ixz="0" iyz="0"/>
      <origin xyz="0 0 -0.0035" rpy="0 0 0"/>
    </inertial>
  </link>
  <joint name="Fastened_1_11" type="fixed">
    <origin xyz="0 0.013 -0.1425" rpy="-1.5707963 0 0"/>
    <parent link="leg2_shell_2"/>
    <child link="leg2_actuator_2"/>
  </joint>
  <link name="leg2_actuator_2">
    <visual>
      <origin xyz="0 0 0" rpy="0 0 0"/>
      <geometry>
        <mesh filename="meshes/leg2_actuator_2.stl"/>
      </geometry>
      <material name="leg2_actuator_material_2">
        <color rgba="0.79215686 0.81960784 0.93333333 1"/>
      </material>
    </visual>
    <collision>
      <origin xyz="0 0 0" rpy="0 0 0"/>
      <geometry>
        <mesh filename="meshes/leg2_actuator_2.stl"/>
      </geometry>
    </collision>
    <inertial>
      <mass value="1.5"/>
      <inertia ixx="0.0015444603" iyy="0.0015746032" izz="0.0025156575" ixy="0" ixz="0" iyz="0"/>
      <origin xyz="0 0 -0.015265182" rpy="0 0 0"/>
    </inertial>
  </link>
  <joint name="Fastened_2_9" type="fixed">
    <origin xyz="0 0.0307 -0.1425" rpy="1.5707963 0 0"/>
    <parent link="leg2_shell_2"/>
    <child link="leg2_bearing_2"/>
  </joint>
  <link name="leg2_bearing_2">
    <visual>
      <origin xyz="0 0 0" rpy="0 0 0"/>
      <geometry>
        <mesh filename="meshes/leg2_bearing_2.stl"/>
      </geometry>
      <material name="leg2_bearing_material_2">
        <color rgba="0.79215686 0.81960784 0.93333333 1"/>
      </material>
    </visual>
    <collision>
      <origin xyz="0 0 0" rpy="0 0 0"/>
      <geometry>
        <mesh filename="meshes/leg2_bearing_2.stl"/>
      </geometry>
    </collision>
    <inertial>
      <mass value="0.053266787"/>
      <inertia ixx="1.8136502e-05" iyy="1.8136502e-05" izz="3.5913995e-05" ixy="0" ixz="0" iyz="0"/>
      <origin xyz="0 0 -0.0035" rpy="0 0 0"/>
    </inertial>
  </link>
  <joint name="R_wrist" type="revolute">
    <origin xyz="0 0 -0.0315" rpy="0 0 1.5707963"/>
    <parent link="arm3_actuator"/>
    <child link="hand_shell"/>
    <limit effort="80" velocity="5" lower="0" upper="6.2831853"/>
    <axis xyz="0 0 1"/>
  </joint>
  <link name="hand_shell">
    <visual>
      <origin xyz="0 0 0" rpy="0 0 0"/>
      <geometry>
        <mesh filename="meshes/hand_shell.stl"/>
      </geometry>
      <material name="hand_shell_material">
        <color rgba="0.89803922 0.91764706 0.92941176 1"/>
      </material>
    </visual>
    <collision>
      <origin xyz="0 0 0" rpy="0 0 0"/>
      <geometry>
        <mesh filename="meshes/hand_shell.stl"/>
      </geometry>
    </collision>
    <inertial>
      <mass value="0.27224091"/>
      <inertia ixx="0.00035163322" iyy="0.00081970152" izz="0.00071514974" ixy="0" ixz="-1.9383745e-05" iyz="0"/>
      <origin xyz="0.0020653116 0.00015883163 -0.067811983" rpy="0 0 0"/>
    </inertial>
  </link>
  <joint name="L_wrist" type="revolute">
    <origin xyz="0 0 -0.0315" rpy="0 0 1.5707963"/>
    <parent link="arm3_actuator2"/>
    <child link="hand_shell_2"/>
    <limit effort="80" velocity="5" lower="0" upper="6.2831853"/>
    <axis xyz="0 0 1"/>
  </joint>
  <link name="hand_shell_2">
    <visual>
      <origin xyz="0 0 0" rpy="0 0 0"/>
      <geometry>
        <mesh filename="meshes/hand_shell_2.stl"/>
      </geometry>
      <material name="hand_shell_material_2">
        <color rgba="0.89803922 0.91764706 0.92941176 1"/>
      </material>
    </visual>
    <collision>
      <origin xyz="0 0 0" rpy="0 0 0"/>
      <geometry>
        <mesh filename="meshes/hand_shell_2.stl"/>
      </geometry>
    </collision>
    <inertial>
      <mass value="0.27224091"/>
      <inertia ixx="0.00035163322" iyy="0.00081970152" izz="0.00071514974" ixy="0" ixz="-1.9383745e-05" iyz="0"/>
      <origin xyz="0.0020653116 0.00015883163 -0.067811983" rpy="0 0 0"/>
    </inertial>
  </link>
  <joint name="L_knee" type="revolute">
    <origin xyz="0 0 -0.0035" rpy="0 0 0"/>
    <parent link="leg2_bearing"/>
    <child link="leg3_shell2"/>
    <limit effort="80" velocity="5" lower="-2.0943951" upper="2.0943951"/>
    <axis xyz="0 0 1"/>
  </joint>
  <link name="leg3_shell2">
    <visual>
      <origin xyz="0 0 0" rpy="0 0 0"/>
      <geometry>
        <mesh filename="meshes/leg3_shell2.stl"/>
      </geometry>
      <material name="leg3_shell2_material">
        <color rgba="0.89803922 0.91764706 0.92941176 1"/>
      </material>
    </visual>
    <collision>
      <origin xyz="0 0 0" rpy="0 0 0"/>
      <geometry>
        <mesh filename="meshes/leg3_shell2.stl"/>
      </geometry>
    </collision>
    <inertial>
      <mass value="0.069722151"/>
      <inertia ixx="8.1803983e-05" iyy="4.5383948e-05" izz="0.00011848288" ixy="0" ixz="0" iyz="1.1946282e-05"/>
      <origin xyz="0 -0.03247721 0.006955371" rpy="0 0 0"/>
    </inertial>
  </link>
  <joint name="R_knee" type="revolute">
    <origin xyz="0 0 -0.0035" rpy="0 0 0"/>
    <parent link="leg2_bearing_2"/>
    <child link="leg3_shell22"/>
    <limit effort="80" velocity="5" lower="-2.0943951" upper="2.0943951"/>
    <axis xyz="0 0 -1"/>
  </joint>
  <link name="leg3_shell22">
    <visual>
      <origin xyz="0 0 0" rpy="0 0 0"/>
      <geometry>
        <mesh filename="meshes/leg3_shell22.stl"/>
      </geometry>
      <material name="leg3_shell22_material">
        <color rgba="0.89803922 0.91764706 0.92941176 1"/>
      </material>
    </visual>
    <collision>
      <origin xyz="0 0 0" rpy="0 0 0"/>
      <geometry>
        <mesh filename="meshes/leg3_shell22.stl"/>
      </geometry>
    </collision>
    <inertial>
      <mass value="0.069722381"/>
      <inertia ixx="8.1803971e-05" iyy="4.5384237e-05" izz="0.00011848315" ixy="0" ixz="0" iyz="1.1946209e-05"/>
      <origin xyz="0 -0.032477257 0.0069553217" rpy="0 0 0"/>
    </inertial>
  </link>
  <joint name="Fastened_1_12" type="fixed">
    <origin xyz="0 0 -0.062" rpy="3.1415927 0 0"/>
    <parent link="hand_shell"/>
    <child link="hand_actuator"/>
  </joint>
  <link name="hand_actuator">
    <visual>
      <origin xyz="0 0 0" rpy="0 0 0"/>
      <geometry>
        <mesh filename="meshes/hand_actuator.stl"/>
      </geometry>
      <material name="hand_actuator_material">
        <color rgba="0.79215686 0.81960784 0.93333333 1"/>
      </material>
    </visual>
    <collision>
      <origin xyz="0 0 0" rpy="0 0 0"/>
      <geometry>
        <mesh filename="meshes/hand_actuator.stl"/>
      </geometry>
    </collision>
    <inertial>
      <mass value="0.31"/>
      <inertia ixx="0.00013088778" iyy="0.00013088778" izz="0.00012532318" ixy="0" ixz="0" iyz="0"/>
      <origin xyz="0 0 -0.025309195" rpy="0 0 0"/>
    </inertial>
  </link>
  <joint name="Fastened_2_10" type="fixed">
    <origin xyz="0 -0.029727738 -0.107" rpy="3.1415927 -1.5707963 0"/>
    <parent link="hand_shell"/>
    <child link="hand_shell2"/>
  </joint>
  <link name="hand_shell2">
    <visual>
      <origin xyz="0 0 0" rpy="0 0 0"/>
      <geometry>
        <mesh filename="meshes/hand_shell2.stl"/>
      </geometry>
      <material name="hand_shell2_material">
        <color rgba="0.89803922 0.91764706 0.92941176 1"/>
      </material>
    </visual>
    <collision>
      <origin xyz="0 0 0" rpy="0 0 0"/>
      <geometry>
        <mesh filename="meshes/hand_shell2.stl"/>
      </geometry>
    </collision>
    <inertial>
      <mass value="0.03852471"/>
      <inertia ixx="8.1216505e-05" iyy="6.8941484e-05" izz="1.2300663e-05" ixy="0" ixz="0" iyz="2.3790915e-06"/>
      <origin xyz="-0.00099449627 -0.030012003 0" rpy="0 0 0"/>
    </inertial>
  </link>
  <joint name="Fastened_1_13" type="fixed">
    <origin xyz="0 0 -0.062" rpy="3.1415927 0 0"/>
    <parent link="hand_shell_2"/>
    <child link="hand_actuator_2"/>
  </joint>
  <link name="hand_actuator_2">
    <visual>
      <origin xyz="0 0 0" rpy="0 0 0"/>
      <geometry>
        <mesh filename="meshes/hand_actuator_2.stl"/>
      </geometry>
      <material name="hand_actuator_material_2">
        <color rgba="0.79215686 0.81960784 0.93333333 1"/>
      </material>
    </visual>
    <collision>
      <origin xyz="0 0 0" rpy="0 0 0"/>
      <geometry>
        <mesh filename="meshes/hand_actuator_2.stl"/>
      </geometry>
    </collision>
    <inertial>
      <mass value="0.31"/>
      <inertia ixx="0.00013088778" iyy="0.00013088778" izz="0.00012532318" ixy="0" ixz="0" iyz="0"/>
      <origin xyz="0 0 -0.025309195" rpy="0 0 0"/>
    </inertial>
  </link>
  <joint name="Fastened_2_11" type="fixed">
    <origin xyz="0 -0.029727738 -0.107" rpy="3.1415927 -1.5707963 0"/>
    <parent link="hand_shell_2"/>
    <child link="hand_shell2_2"/>
  </joint>
  <link name="hand_shell2_2">
    <visual>
      <origin xyz="0 0 0" rpy="0 0 0"/>
      <geometry>
        <mesh filename="meshes/hand_shell2_2.stl"/>
      </geometry>
      <material name="hand_shell2_material_2">
        <color rgba="0.89803922 0.91764706 0.92941176 1"/>
      </material>
    </visual>
    <collision>
      <origin xyz="0 0 0" rpy="0 0 0"/>
      <geometry>
        <mesh filename="meshes/hand_shell2_2.stl"/>
      </geometry>
    </collision>
    <inertial>
      <mass value="0.03852471"/>
      <inertia ixx="8.1216505e-05" iyy="6.8941484e-05" izz="1.2300663e-05" ixy="0" ixz="0" iyz="2.3790915e-06"/>
      <origin xyz="-0.00099449627 -0.030012003 0" rpy="0 0 0"/>
    </inertial>
  </link>
  <joint name="Fastened_6_2" type="fixed">
    <origin xyz="0.029 -0.068 0.0222" rpy="0 0 0"/>
    <parent link="leg3_shell2"/>
    <child link="leg3_shell1"/>
  </joint>
  <link name="leg3_shell1">
    <visual>
      <origin xyz="0 0 0" rpy="0 0 0"/>
      <geometry>
        <mesh filename="meshes/leg3_shell1.stl"/>
      </geometry>
      <material name="leg3_shell1_material">
        <color rgba="0.89803922 0.91764706 0.92941176 1"/>
      </material>
    </visual>
    <collision>
      <origin xyz="0 0 0" rpy="0 0 0"/>
      <geometry>
        <mesh filename="meshes/leg3_shell1.stl"/>
      </geometry>
    </collision>
    <inertial>
      <mass value="0.56425494"/>
      <inertia ixx="0.0046192307" iyy="0.00044138531" izz="0.0047994727" ixy="5.3501388e-05" ixz="-5.8832004e-06" iyz="-0.00046247377"/>
      <origin xyz="-0.027048665 -0.059517521 0.023221704" rpy="0 0 0"/>
    </inertial>
  </link>
  <joint name="Fastened_1_14" type="fixed">
    <origin xyz="-0.029 -0.068 0.0222" rpy="0 0 3.1415927"/>
    <parent link="leg3_shell22"/>
    <child link="leg3_shell11"/>
  </joint>
  <link name="leg3_shell11">
    <visual>
      <origin xyz="0 0 0" rpy="0 0 0"/>
      <geometry>
        <mesh filename="meshes/leg3_shell11.stl"/>
      </geometry>
      <material name="leg3_shell11_material">
        <color rgba="0.89803922 0.91764706 0.92941176 1"/>
      </material>
    </visual>
    <collision>
      <origin xyz="0 0 0" rpy="0 0 0"/>
      <geometry>
        <mesh filename="meshes/leg3_shell11.stl"/>
      </geometry>
    </collision>
    <inertial>
      <mass value="0.56426179"/>
      <inertia ixx="0.0046192506" iyy="0.00044138907" izz="0.0047994941" ixy="-5.3508505e-05" ixz="-5.8839789e-06" iyz="0.00046247435"/>
      <origin xyz="-0.027048552 0.059518148 0.023221845" rpy="0 0 0"/>
    </inertial>
  </link>
  <joint name="Fastened_3_4" type="fixed">
    <origin xyz="-0.0010182322 -0.042356503 -0.0545" rpy="3.1415927 0 0"/>
    <parent link="hand_shell2"/>
    <child link="hand_part2"/>
  </joint>
  <link name="hand_part2">
    <visual>
      <origin xyz="0 0 0" rpy="0 0 0"/>
      <geometry>
        <mesh filename="meshes/hand_part2.stl"/>
      </geometry>
      <material name="hand_part2_material">
        <color rgba="0.79215686 0.81960784 0.93333333 1"/>
      </material>
    </visual>
    <collision>
      <origin xyz="0 0 0" rpy="0 0 0"/>
      <geometry>
        <mesh filename="meshes/hand_part2.stl"/>
      </geometry>
    </collision>
    <inertial>
      <mass value="0.022065392"/>
      <inertia ixx="2.8604312e-06" iyy="6.0887761e-06" izz="8.0150705e-06" ixy="-1.5779589e-06" ixz="0" iyz="0"/>
      <origin xyz="-0.021080169 -0.008838172 -0.015263073" rpy="0 0 0"/>
    </inertial>
  </link>
  <joint name="Fastened_5_2" type="fixed">
    <origin xyz="-0.0010182322 -0.017663497 0.0545" rpy="3.1415927 0 0"/>
    <parent link="hand_shell2"/>
    <child link="hand_part"/>
  </joint>
  <link name="hand_part">
    <visual>
      <origin xyz="0 0 0" rpy="0 0 0"/>
      <geometry>
        <mesh filename="meshes/hand_part.stl"/>
      </geometry>
      <material name="hand_part_material">
        <color rgba="0.79215686 0.81960784 0.93333333 1"/>
      </material>
    </visual>
    <collision>
      <origin xyz="0 0 0" rpy="0 0 0"/>
      <geometry>
        <mesh filename="meshes/hand_part.stl"/>
      </geometry>
    </collision>
    <inertial>
      <mass value="0.022065392"/>
      <inertia ixx="2.8604312e-06" iyy="6.0887761e-06" izz="8.0150705e-06" ixy="1.5779589e-06" ixz="0" iyz="0"/>
      <origin xyz="-0.021080169 0.008838172 0.015263073" rpy="0 0 0"/>
    </inertial>
  </link>
  <joint name="Fastened_3_5" type="fixed">
    <origin xyz="-0.0010182322 -0.042356503 -0.0545" rpy="3.1415927 0 0"/>
    <parent link="hand_shell2_2"/>
    <child link="hand_part2_2"/>
  </joint>
  <link name="hand_part2_2">
    <visual>
      <origin xyz="0 0 0" rpy="0 0 0"/>
      <geometry>
        <mesh filename="meshes/hand_part2_2.stl"/>
      </geometry>
      <material name="hand_part2_material_2">
        <color rgba="0.79215686 0.81960784 0.93333333 1"/>
      </material>
    </visual>
    <collision>
      <origin xyz="0 0 0" rpy="0 0 0"/>
      <geometry>
        <mesh filename="meshes/hand_part2_2.stl"/>
      </geometry>
    </collision>
    <inertial>
      <mass value="0.022065392"/>
      <inertia ixx="2.8604312e-06" iyy="6.0887761e-06" izz="8.0150705e-06" ixy="-1.5779589e-06" ixz="0" iyz="0"/>
      <origin xyz="-0.021080169 -0.008838172 -0.015263073" rpy="0 0 0"/>
    </inertial>
  </link>
  <joint name="Fastened_5_3" type="fixed">
    <origin xyz="-0.0010182322 -0.017663497 0.0545" rpy="3.1415927 0 0"/>
    <parent link="hand_shell2_2"/>
    <child link="hand_part_2"/>
  </joint>
  <link name="hand_part_2">
    <visual>
      <origin xyz="0 0 0" rpy="0 0 0"/>
      <geometry>
        <mesh filename="meshes/hand_part_2.stl"/>
      </geometry>
      <material name="hand_part_material_2">
        <color rgba="0.79215686 0.81960784 0.93333333 1"/>
      </material>
    </visual>
    <collision>
      <origin xyz="0 0 0" rpy="0 0 0"/>
      <geometry>
        <mesh filename="meshes/hand_part_2.stl"/>
      </geometry>
    </collision>
    <inertial>
      <mass value="0.022065392"/>
      <inertia ixx="2.8604312e-06" iyy="6.0887761e-06" izz="8.0150705e-06" ixy="1.5779589e-06" ixz="0" iyz="0"/>
      <origin xyz="-0.021080169 0.008838172 0.015263073" rpy="0 0 0"/>
    </inertial>
  </link>
  <joint name="Fastened_3_6" type="fixed">
    <origin xyz="-0.029 -0.042 0.0121" rpy="0 0 0"/>
    <parent link="leg3_shell1"/>
    <child link="leg3_actuator"/>
  </joint>
  <link name="leg3_actuator">
    <visual>
      <origin xyz="0 0 0" rpy="0 0 0"/>
      <geometry>
        <mesh filename="meshes/leg3_actuator.stl"/>
      </geometry>
      <material name="leg3_actuator_material">
        <color rgba="0.79215686 0.81960784 0.93333333 1"/>
      </material>
    </visual>
    <collision>
      <origin xyz="0 0 0" rpy="0 0 0"/>
      <geometry>
        <mesh filename="meshes/leg3_actuator.stl"/>
      </geometry>
    </collision>
    <inertial>
      <mass value="0.4"/>
      <inertia ixx="0.00018548163" iyy="0.00018548163" izz="0.00028416296" ixy="0" ixz="0" iyz="0"/>
      <origin xyz="0 0 -0.016414865" rpy="0 0 0"/>
    </inertial>
  </link>
  <joint name="Fastened_5_4" type="fixed">
    <origin xyz="-0.029 -0.042 0.047" rpy="3.1415927 0 0"/>
    <parent link="leg3_shell1"/>
    <child link="leg3_shell3"/>
  </joint>
  <link name="leg3_shell3">
    <visual>
      <origin xyz="0 0 0" rpy="0 0 0"/>
      <geometry>
        <mesh filename="meshes/leg3_shell3.stl"/>
      </geometry>
      <material name="leg3_shell3_material">
        <color rgba="0.89803922 0.91764706 0.92941176 1"/>
      </material>
    </visual>
    <collision>
      <origin xyz="0 0 0" rpy="0 0 0"/>
      <geometry>
        <mesh filename="meshes/leg3_shell3.stl"/>
      </geometry>
    </collision>
    <inertial>
      <mass value="0.14570047"/>
      <inertia ixx="0.00063417533" iyy="5.6135452e-05" izz="0.00068889977" ixy="-3.6668809e-06" ixz="0" iyz="-6.4804723e-06"/>
      <origin xyz="0.00080671853 0.094588499 0.0006232858" rpy="0 0 0"/>
    </inertial>
  </link>
  <joint name="R_ankle" type="revolute">
    <origin xyz="-0.029 0.232 0.005" rpy="3.1415927 0 0"/>
    <parent link="leg3_shell11"/>
    <child link="foot3"/>
    <limit effort="80" velocity="5" lower="-0.6981317" upper="0.6981317"/>
    <axis xyz="0 0 -1"/>
  </joint>
  <link name="foot3">
    <visual>
      <origin xyz="0 0 0" rpy="0 0 0"/>
      <geometry>
        <mesh filename="meshes/foot3.stl"/>
      </geometry>
      <material name="foot3_material">
        <color rgba="0.89803922 0.91764706 0.92941176 1"/>
      </material>
    </visual>
    <collision>
      <origin xyz="0 0 0" rpy="0 0 0"/>
      <geometry>
        <mesh filename="meshes/foot3.stl"/>
      </geometry>
    </collision>
    <inertial>
      <mass value="0.3129012"/>
      <inertia ixx="0.00015598551" iyy="0.0009939881" izz="0.00089276253" ixy="1.5359534e-05" ixz="1.580541e-05" iyz="-2.6026885e-06"/>
      <origin xyz="0.014045581 -0.013644469 -0.023401374" rpy="0 0 0"/>
    </inertial>
  </link>
  <joint name="Fastened_2_12" type="fixed">
    <origin xyz="-0.029 0.042 0.0121" rpy="0 0 0"/>
    <parent link="leg3_shell11"/>
    <child link="leg3_actuator2"/>
  </joint>
  <link name="leg3_actuator2">
    <visual>
      <origin xyz="0 0 0" rpy="0 0 0"/>
      <geometry>
        <mesh filename="meshes/leg3_actuator2.stl"/>
      </geometry>
      <material name="leg3_actuator2_material">
        <color rgba="0.79215686 0.81960784 0.93333333 1"/>
      </material>
    </visual>
    <collision>
      <origin xyz="0 0 0" rpy="0 0 0"/>
      <geometry>
        <mesh filename="meshes/leg3_actuator2.stl"/>
      </geometry>
    </collision>
    <inertial>
      <mass value="0.4"/>
      <inertia ixx="0.00018548163" iyy="0.00018548163" izz="0.00028416296" ixy="0" ixz="0" iyz="0"/>
      <origin xyz="0 0 -0.016414865" rpy="0 0 0"/>
    </inertial>
  </link>
  <joint name="Fastened_4_4" type="fixed">
    <origin xyz="-0.029 0.042 0.047" rpy="3.1415927 0 0"/>
    <parent link="leg3_shell11"/>
    <child link="leg3_shell33"/>
  </joint>
  <link name="leg3_shell33">
    <visual>
      <origin xyz="0 0 0" rpy="0 0 0"/>
      <geometry>
        <mesh filename="meshes/leg3_shell33.stl"/>
      </geometry>
      <material name="leg3_shell33_material">
        <color rgba="0.89803922 0.91764706 0.92941176 1"/>
      </material>
    </visual>
    <collision>
      <origin xyz="0 0 0" rpy="0 0 0"/>
      <geometry>
        <mesh filename="meshes/leg3_shell33.stl"/>
      </geometry>
    </collision>
    <inertial>
      <mass value="0.14569982"/>
      <inertia ixx="0.00063417464" iyy="5.6135157e-05" izz="0.0006888988" ixy="3.6666303e-06" ixz="0" iyz="6.4804451e-06"/>
      <origin xyz="0.00080661127 -0.094588414 0.00062328876" rpy="0 0 0"/>
    </inertial>
  </link>
  <joint name="Fastened_6_3" type="fixed">
    <origin xyz="-0.05 -0.0125 -0.0125" rpy="3.1415927 0 0"/>
    <parent link="hand_part2"/>
    <child link="hand_umi2"/>
  </joint>
  <link name="hand_umi2">
    <visual>
      <origin xyz="0 0 0" rpy="0 0 0"/>
      <geometry>
        <mesh filename="meshes/hand_umi2.stl"/>
      </geometry>
      <material name="hand_umi2_material">
        <color rgba="0.79215686 0.81960784 0.93333333 1"/>
      </material>
    </visual>
    <collision>
      <origin xyz="0 0 0" rpy="0 0 0"/>
      <geometry>
        <mesh filename="meshes/hand_umi2.stl"/>
      </geometry>
    </collision>
    <inertial>
      <mass value="0.064227671"/>
      <inertia ixx="1.6527818e-05" iyy="6.0431617e-05" izz="6.1915193e-05" ixy="0" ixz="6.1464183e-06" iyz="0"/>
      <origin xyz="0.0061009097 0.00058732212 -0.0021018821" rpy="0 0 0"/>
    </inertial>
  </link>
  <joint name="Fastened_4_5" type="fixed">
    <origin xyz="-0.05 0.0125 0.0125" rpy="0 0 0"/>
    <parent link="hand_part"/>
    <child link="hand_umi"/>
  </joint>
  <link name="hand_umi">
    <visual>
      <origin xyz="0 0 0" rpy="0 0 0"/>
      <geometry>
        <mesh filename="meshes/hand_umi.stl"/>
      </geometry>
      <material name="hand_umi_material">
        <color rgba="0.79215686 0.81960784 0.93333333 1"/>
      </material>
    </visual>
    <collision>
      <origin xyz="0 0 0" rpy="0 0 0"/>
      <geometry>
        <mesh filename="meshes/hand_umi.stl"/>
      </geometry>
    </collision>
    <inertial>
      <mass value="0.064227671"/>
      <inertia ixx="1.6527818e-05" iyy="6.0431617e-05" izz="6.1915193e-05" ixy="0" ixz="6.1464183e-06" iyz="0"/>
      <origin xyz="0.0061009097 0.00058732212 -0.0021018821" rpy="0 0 0"/>
    </inertial>
  </link>
  <joint name="Fastened_6_4" type="fixed">
    <origin xyz="-0.05 -0.0125 -0.0125" rpy="3.1415927 0 0"/>
    <parent link="hand_part2_2"/>
    <child link="hand_umi2_2"/>
  </joint>
  <link name="hand_umi2_2">
    <visual>
      <origin xyz="0 0 0" rpy="0 0 0"/>
      <geometry>
        <mesh filename="meshes/hand_umi2_2.stl"/>
      </geometry>
      <material name="hand_umi2_material_2">
        <color rgba="0.79215686 0.81960784 0.93333333 1"/>
      </material>
    </visual>
    <collision>
      <origin xyz="0 0 0" rpy="0 0 0"/>
      <geometry>
        <mesh filename="meshes/hand_umi2_2.stl"/>
      </geometry>
    </collision>
    <inertial>
      <mass value="0.064227671"/>
      <inertia ixx="1.6527818e-05" iyy="6.0431617e-05" izz="6.1915193e-05" ixy="0" ixz="6.1464183e-06" iyz="0"/>
      <origin xyz="0.0061009097 0.00058732212 -0.0021018821" rpy="0 0 0"/>
    </inertial>
  </link>
  <joint name="Fastened_4_6" type="fixed">
    <origin xyz="-0.05 0.0125 0.0125" rpy="0 0 0"/>
    <parent link="hand_part_2"/>
    <child link="hand_umi_2"/>
  </joint>
  <link name="hand_umi_2">
    <visual>
      <origin xyz="0 0 0" rpy="0 0 0"/>
      <geometry>
        <mesh filename="meshes/hand_umi_2.stl"/>
      </geometry>
      <material name="hand_umi_material_2">
        <color rgba="0.79215686 0.81960784 0.93333333 1"/>
      </material>
    </visual>
    <collision>
      <origin xyz="0 0 0" rpy="0 0 0"/>
      <geometry>
        <mesh filename="meshes/hand_umi_2.stl"/>
      </geometry>
    </collision>
    <inertial>
      <mass value="0.064227671"/>
      <inertia ixx="1.6527818e-05" iyy="6.0431617e-05" izz="6.1915193e-05" ixy="0" ixz="6.1464183e-06" iyz="0"/>
      <origin xyz="0.0061009097 0.00058732212 -0.0021018821" rpy="0 0 0"/>
    </inertial>
  </link>
  <joint name="L_ankle" type="revolute">
    <origin xyz="0 0.19 -0.001" rpy="3.1415927 0 0"/>
    <parent link="leg3_shell3"/>
    <child link="foot1"/>
    <limit effort="80" velocity="5" lower="-0.6981317" upper="0.6981317"/>
    <axis xyz="0 0 -1"/>
  </joint>
  <link name="foot1">
    <visual>
      <origin xyz="0 0 0" rpy="0 0 0"/>
      <geometry>
        <mesh filename="meshes/foot1.stl"/>
      </geometry>
      <material name="foot1_material">
        <color rgba="0.89803922 0.91764706 0.92941176 1"/>
      </material>
    </visual>
    <collision>
      <origin xyz="0 0 0" rpy="0 0 0"/>
      <geometry>
        <mesh filename="meshes/foot1.stl"/>
      </geometry>
    </collision>
    <inertial>
      <mass value="0.31290138"/>
      <inertia ixx="0.0001559855" iyy="0.00099398838" izz="0.00089276282" ixy="1.5359606e-05" ixz="-1.580541e-05" iyz="2.6026876e-06"/>
      <origin xyz="0.014045559 -0.013644464 -0.019598625" rpy="0 0 0"/>
    </inertial>
  </link>
  <joint name="Fastened_1_15" type="fixed">
    <origin xyz="0.11 -0.015 -0.0025" rpy="-1.5707963 0 0"/>
    <parent link="foot3"/>
    <child link="foot4"/>
  </joint>
  <link name="foot4">
    <visual>
      <origin xyz="0 0 0" rpy="0 0 0"/>
      <geometry>
        <mesh filename="meshes/foot4.stl"/>
      </geometry>
      <material name="foot4_material">
        <color rgba="0.79215686 0.81960784 0.93333333 1"/>
      </material>
    </visual>
    <collision>
      <origin xyz="0 0 0" rpy="0 0 0"/>
      <geometry>
        <mesh filename="meshes/foot4.stl"/>
      </geometry>
    </collision>
    <inertial>
      <mass value="0.23284597"/>
      <inertia ixx="8.7514527e-05" iyy="0.00092600841" izz="0.00099914819" ixy="-1.3641526e-05" ixz="-3.105449e-06" iyz="0"/>
      <origin xyz="-0.07959264 0.021591194 -0.0099593533" rpy="0 0 0"/>
    </inertial>
  </link>
  <joint name="Fastened_2_13" type="fixed">
    <origin xyz="0.125 -0.015 0.0015" rpy="-1.5707963 0 0"/>
    <parent link="foot1"/>
    <child link="foot2"/>
  </joint>
  <link name="foot2">
    <visual>
      <origin xyz="0 0 0" rpy="0 0 0"/>
      <geometry>
        <mesh filename="meshes/foot2.stl"/>
      </geometry>
      <material name="foot2_material">
        <color rgba="0.79215686 0.81960784 0.93333333 1"/>
      </material>
    </visual>
    <collision>
      <origin xyz="0 0 0" rpy="0 0 0"/>
      <geometry>
        <mesh filename="meshes/foot2.stl"/>
      </geometry>
    </collision>
    <inertial>
      <mass value="0.23284596"/>
      <inertia ixx="8.7514519e-05" iyy="0.00092600831" izz="0.00099914808" ixy="1.3641567e-05" ixz="-3.1054521e-06" iyz="0"/>
      <origin xyz="-0.094592646 0.020408804 -0.009959353" rpy="0 0 0"/>
    </inertial>
  </link>
</robot>
